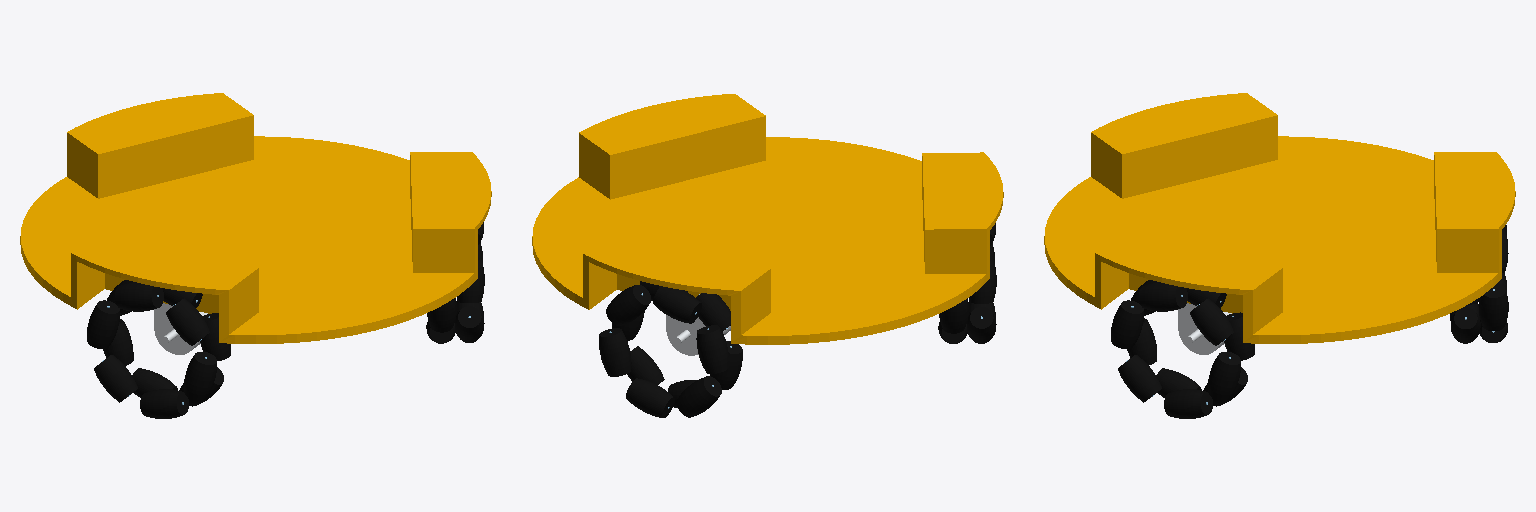
--- Render facts (derived) ---
Views: 3 orthographic renders of the robot side by side, from view 1: azimuth 30°, elevation 25°; view 2: azimuth 150°, elevation 25°; view 3: azimuth 270°, elevation 25°.
Robot: omnibot — 43 links, 42 joints (39 revolute, 3 fixed); root link body; default pose: every joint at zero.
Visible links, largest first — view 1: body, omni_roller001_(solid)001_33, omni_roller001_(solid)001_31, omni_roller001_(solid)001_34, omni_roller001_(solid)001_35, omni_roller001_(solid)001_29, omni_roller001_(solid)001_32, assembly_motor_3, omni_roller001_(solid)001_3, omni_roller001_(solid)001_28, omni_roller001_(solid)001_27, omni_roller001_(solid)001_26 (+2 smaller); view 2: body, omni_roller001_(solid)001_22, omni_roller001_(solid)001_19, omni_roller001_(solid)001_23, omni_roller001_(solid)001_17, omni_roller001_(solid)001_21, omni_roller001_(solid)001_24, assembly_motor_2, omni_roller001_(solid)001_18, omni_roller001_(solid)001_35, omni_roller001_(solid)001_13, omni_roller001_(solid)001_20 (+2 smaller); view 3: body, omni_roller001_(solid)001_11, omni_roller001_(solid)001_5, omni_roller001_(solid)001_12, omni_roller001_(solid)001_3, omni_roller001_(solid)001_8, omni_roller001_(solid)001_7, omni_roller001_(solid)001_23, assembly_motor, omni_roller001_(solid)001_13, omni_roller001_(solid)001_10, omni_roller001_(solid)001_4 (+1 smaller).
Link boxes in pixels (bbox=[...]): body: bbox=[20, 93, 491, 343]; omni_roller001_(solid)001_33: bbox=[184, 352, 216, 399]; omni_roller001_(solid)001_31: bbox=[87, 300, 119, 348]; omni_roller001_(solid)001_34: bbox=[140, 389, 188, 418]; omni_roller001_(solid)001_35: bbox=[94, 355, 137, 402]; omni_roller001_(solid)001_29: bbox=[166, 298, 209, 345]; omni_roller001_(solid)001_32: bbox=[115, 282, 163, 311]; assembly_motor_3: bbox=[154, 303, 207, 354]; omni_roller001_(solid)001_3: bbox=[455, 306, 484, 342]; omni_roller001_(solid)001_28: bbox=[200, 313, 230, 360]; omni_roller001_(solid)001_27: bbox=[103, 319, 133, 365]; omni_roller001_(solid)001_26: bbox=[132, 368, 177, 397]; body: bbox=[532, 94, 1003, 344]; omni_roller001_(solid)001_22: bbox=[626, 378, 674, 417]; omni_roller001_(solid)001_19: bbox=[696, 325, 728, 373]; omni_roller001_(solid)001_23: bbox=[599, 328, 631, 376]; omni_roller001_(solid)001_17: bbox=[653, 286, 701, 323]; omni_roller001_(solid)001_21: bbox=[677, 376, 721, 417]; omni_roller001_(solid)001_24: bbox=[606, 285, 650, 325]; assembly_motor_2: bbox=[666, 315, 730, 355]; omni_roller001_(solid)001_18: bbox=[696, 293, 730, 331]; omni_roller001_(solid)001_35: bbox=[967, 307, 996, 343]; omni_roller001_(solid)001_13: bbox=[627, 346, 664, 384]; omni_roller001_(solid)001_20: bbox=[710, 341, 742, 389]; body: bbox=[1044, 93, 1515, 343]; omni_roller001_(solid)001_11: bbox=[1208, 352, 1240, 399]; omni_roller001_(solid)001_5: bbox=[1111, 300, 1143, 348]; omni_roller001_(solid)001_12: bbox=[1164, 389, 1212, 418]; omni_roller001_(solid)001_3: bbox=[1118, 355, 1161, 402]; omni_roller001_(solid)001_8: bbox=[1190, 298, 1233, 345]; omni_roller001_(solid)001_7: bbox=[1139, 282, 1187, 311]; omni_roller001_(solid)001_23: bbox=[1479, 284, 1508, 330]; assembly_motor: bbox=[1178, 303, 1231, 354]; omni_roller001_(solid)001_13: bbox=[1451, 307, 1480, 343]; omni_roller001_(solid)001_10: bbox=[1224, 312, 1254, 360]; omni_roller001_(solid)001_4: bbox=[1127, 318, 1156, 364].
Size in the robot's own frame: 0.24 by 0.24 by 0.0824 metres.
Meshes: 7 distinct files referenced, 76 mesh visuals loaded (4 binary STL); not drawn: 12 (reference not matched to a file when rendering).

URDF robot description (omnibot):
<robot name="omnibot">
    <link name="body">
        <visual>
            <origin xyz="0 0 0" rpy="0 -0 0" />
            <geometry>
                <mesh filename="package://onshape_description/omnibot/body.stl"/>
            </geometry>
            <material name="body_material">
                <color rgba="0.98039215686274505668 0.71372549019607844922 0.0039215686274509803377 1.0"/>
            </material>
        </visual>
        <collision>
            <origin xyz="0 0 0" rpy="0 -0 0" />
            <geometry>
                <mesh filename="package://onshape_description/omnibot/body.stl"/>
            </geometry>
        </collision>
        <inertial>
            <origin xyz="5.3329092568826338066e-17 -6.3426476904634467603e-17 0.0080527486487109532082" rpy="0 0 0"/>
            <mass value="0.33121488483749472742" />
            <inertia ixx="0.0012461406422939475935" ixy="0"  ixz="0" iyy="0.0012461406422939460756" iyz="0" izz="0.002431657443177079065" />
        </inertial>
    </link>

    <link name="assembly_motor">
        <visual>
            <origin xyz="7.9043193428368358577e-18 0.015229328657860308205 -0.057370000000000025142" rpy="1.1520632371359762718e-32 2.2226360665914211532e-18 -4.9713570571472892865e-32" />
            <geometry>
                <mesh filename="package://onshape_description/omnibot/part_1.stl"/>
            </geometry>
            <material name="part_1_material">
                <color rgba="0.90196078431372550543 0.91764705882352937127 0.92941176470588238168 1.0"/>
            </material>
        </visual>
        <collision>
            <origin xyz="7.9043193428368358577e-18 0.015229328657860308205 -0.057370000000000025142" rpy="1.1520632371359762718e-32 2.2226360665914211532e-18 -4.9713570571472892865e-32" />
            <geometry>
                <mesh filename="package://onshape_description/omnibot/part_1.stl"/>
            </geometry>
        </collision>
        <inertial>
            <origin xyz="-2.0988305528124668016e-06 0.015050377580170262726 -0.021659280060218950859" rpy="0 0 0"/>
            <mass value="0.12860494827495116965" />
            <inertia ixx="4.6506247208995554765e-05" ixy="1.6921131916578571026e-09"  ixz="-3.4608427741391724399e-09" iyy="4.6246527094885944318e-05" iyz="1.0074294037198129599e-06" izz="1.066124497744399909e-05" />
        </inertial>
    </link>

    <link name="wheel_copy_1">
        <visual>
            <origin xyz="0.018849292529230034926 -0.025304642924402168114 -0.024199999508976458018" rpy="3.141592653589793116 -4.7644572900755180601e-17 1.8430678811938725481" />
            <geometry>
                <mesh filename="package://onshape_description/omnibot/axys_rod.stl"/>
            </geometry>
            <material name="axys_rod_material">
                <color rgba="0.61568627450980395466 0.81176470588235294379 0.92941176470588238168 1.0"/>
            </material>
        </visual>
        <collision>
            <origin xyz="0.018849292529230034926 -0.025304642924402168114 -0.024199999508976458018" rpy="3.141592653589793116 -4.7644572900755180601e-17 1.8430678811938725481" />
            <geometry>
                <mesh filename="package://onshape_description/omnibot/axys_rod.stl"/>
            </geometry>
        </collision>
        <visual>
            <origin xyz="-0.0029828434134273208028 0.031522754648300330138 -0.00999999706275848943" rpy="2.4614437732346262287e-17 2.1952416273112084314e-17 1.2985250346548160572" />
            <geometry>
                <mesh filename="package://onshape_description/omnibot/axys_rod.stl"/>
            </geometry>
            <material name="axys_rod_material">
                <color rgba="0.61568627450980395466 0.81176470588235294379 0.92941176470588238168 1.0"/>
            </material>
        </visual>
        <collision>
            <origin xyz="-0.0029828434134273208028 0.031522754648300330138 -0.00999999706275848943" rpy="2.4614437732346262287e-17 2.1952416273112084314e-17 1.2985250346548160572" />
            <geometry>
                <mesh filename="package://onshape_description/omnibot/axys_rod.stl"/>
            </geometry>
        </collision>
        <visual>
            <origin xyz="-0.019217739019543406132 -0.025322796751039058916 -0.010000003715208136135" rpy="2.4614437732346262287e-17 2.1952416273112084314e-17 1.2985250346548160572" />
            <geometry>
                <mesh filename="package://onshape_description/omnibot/axys_rod.stl"/>
            </geometry>
            <material name="axys_rod_material">
                <color rgba="0.61568627450980395466 0.81176470588235294379 0.92941176470588238168 1.0"/>
            </material>
        </visual>
        <collision>
            <origin xyz="-0.019217739019543406132 -0.025322796751039058916 -0.010000003715208136135" rpy="2.4614437732346262287e-17 2.1952416273112084314e-17 1.2985250346548160572" />
            <geometry>
                <mesh filename="package://onshape_description/omnibot/axys_rod.stl"/>
            </geometry>
        </collision>
        <visual>
            <origin xyz="-0.025693795923572966544 -0.018315214244011321365 -0.010000001453652943018" rpy="-3.141592653589793116 -1.3043559180657304432e-17 0.25132812119095515602" />
            <geometry>
                <mesh filename="package://onshape_description/omnibot/axys_rod.stl"/>
            </geometry>
            <material name="axys_rod_material">
                <color rgba="0.61568627450980395466 0.81176470588235294379 0.92941176470588238168 1.0"/>
            </material>
        </visual>
        <collision>
            <origin xyz="-0.025693795923572966544 -0.018315214244011321365 -0.010000001453652943018" rpy="-3.141592653589793116 -1.3043559180657304432e-17 0.25132812119095515602" />
            <geometry>
                <mesh filename="package://onshape_description/omnibot/axys_rod.stl"/>
            </geometry>
        </collision>
        <visual>
            <origin xyz="0.028708342606700746474 0.01309387383940342417 -0.024199995144404365388" rpy="3.141592653589793116 -1.3122498566019725294e-16 0.79586976703605860628" />
            <geometry>
                <mesh filename="package://onshape_description/omnibot/axys_rod.stl"/>
            </geometry>
            <material name="axys_rod_material">
                <color rgba="0.61568627450980395466 0.81176470588235294379 0.92941176470588238168 1.0"/>
            </material>
        </visual>
        <collision>
            <origin xyz="0.028708342606700746474 0.01309387383940342417 -0.024199995144404365388" rpy="3.141592653589793116 -1.3122498566019725294e-16 0.79586976703605860628" />
            <geometry>
                <mesh filename="package://onshape_description/omnibot/axys_rod.stl"/>
            </geometry>
        </collision>
        <visual>
            <origin xyz="0.025693839153634077249 -0.01831520409297256527 -0.024199999328582064151" rpy="3.141592653589793116 2.1897413049154641094e-17 -0.25132764401668117316" />
            <geometry>
                <mesh filename="package://onshape_description/omnibot/axys_rod.stl"/>
            </geometry>
            <material name="axys_rod_material">
                <color rgba="0.61568627450980395466 0.81176470588235294379 0.92941176470588238168 1.0"/>
            </material>
        </visual>
        <collision>
            <origin xyz="0.025693839153634077249 -0.01831520409297256527 -0.024199999328582064151" rpy="3.141592653589793116 2.1897413049154641094e-17 -0.25132764401668117316" />
            <geometry>
                <mesh filename="package://onshape_description/omnibot/axys_rod.stl"/>
            </geometry>
        </collision>
        <visual>
            <origin xyz="-1.9642151932730556041e-09 -1.7891382439102956554e-10 -0.022199999809268053386" rpy="-3.141592653589793116 -7.2197123923000667429e-17 1.0471975511965978534" />
            <geometry>
                <mesh filename="package://onshape_description/omnibot/omni_003_(solid)001.stl"/>
            </geometry>
            <material name="omni_003_(solid)001_material">
                <color rgba="0.98039215686274505668 0.79607843137254896693 0.26274509803921569651 1.0"/>
            </material>
        </visual>
        <collision>
            <origin xyz="-1.9642151932730556041e-09 -1.7891382439102956554e-10 -0.022199999809268053386" rpy="-3.141592653589793116 -7.2197123923000667429e-17 1.0471975511965978534" />
            <geometry>
                <mesh filename="package://onshape_description/omnibot/omni_003_(solid)001.stl"/>
            </geometry>
        </collision>
        <visual>
            <origin xyz="0.015937773618267953024 0.0042705139175610584701 -0.012000000000003036016" rpy="-3.141592653589793116 1.6962974652580569478e-28 -2.3422611302673121514e-32" />
            <geometry>
                <mesh filename="package://onshape_description/omnibot/omni_spacer001_(solid)001.stl"/>
            </geometry>
            <material name="omni_spacer001_(solid)001_material">
                <color rgba="1 0.7568627450980391913 0.054901960784313724728 1.0"/>
            </material>
        </visual>
        <collision>
            <origin xyz="0.015937773618267953024 0.0042705139175610584701 -0.012000000000003036016" rpy="-3.141592653589793116 1.6962974652580569478e-28 -2.3422611302673121514e-32" />
            <geometry>
                <mesh filename="package://onshape_description/omnibot/omni_spacer001_(solid)001.stl"/>
            </geometry>
        </collision>
        <visual>
            <origin xyz="2.001760042447120469e-11 -1.9338654079413060799e-11 -0.012000000000003147038" rpy="1.9022338643349641804e-17 1.6962974652580569478e-28 -2.3422611302673121514e-32" />
            <geometry>
                <mesh filename="package://onshape_description/omnibot/omni_1_4mm_hole001_(solid).stl"/>
            </geometry>
            <material name="omni_1_4mm_hole001_(solid)_material">
                <color rgba="1 0.7568627450980391913 0.054901960784313724728 1.0"/>
            </material>
        </visual>
        <collision>
            <origin xyz="2.001760042447120469e-11 -1.9338654079413060799e-11 -0.012000000000003147038" rpy="1.9022338643349641804e-17 1.6962974652580569478e-28 -2.3422611302673121514e-32" />
            <geometry>
                <mesh filename="package://onshape_description/omnibot/omni_1_4mm_hole001_(solid).stl"/>
            </geometry>
        </collision>
        <visual>
            <origin xyz="-0.028790909644556491459 0.013178153068647131124 -0.01000000062226605313" rpy="-3.141592653589793116 7.5788537773920091237e-17 -0.79586931499755342312" />
            <geometry>
                <mesh filename="package://onshape_description/omnibot/axys_rod.stl"/>
            </geometry>
            <material name="axys_rod_material">
                <color rgba="0.61568627450980395466 0.81176470588235294379 0.92941176470588238168 1.0"/>
            </material>
        </visual>
        <collision>
            <origin xyz="-0.028790909644556491459 0.013178153068647131124 -0.01000000062226605313" rpy="-3.141592653589793116 7.5788537773920091237e-17 -0.79586931499755342312" />
            <geometry>
                <mesh filename="package://onshape_description/omnibot/axys_rod.stl"/>
            </geometry>
        </collision>
        <visual>
            <origin xyz="0.02580811602108519856 0.018344566682607629793 -0.010000000481623277926" rpy="3.5691146390301812134e-17 -1.2715429987453172065e-17 0.25132812119095515602" />
            <geometry>
                <mesh filename="package://onshape_description/omnibot/axys_rod.stl"/>
            </geometry>
            <material name="axys_rod_material">
                <color rgba="0.61568627450980395466 0.81176470588235294379 0.92941176470588238168 1.0"/>
            </material>
        </visual>
        <collision>
            <origin xyz="0.02580811602108519856 0.018344566682607629793 -0.010000000481623277926" rpy="3.5691146390301812134e-17 -1.2715429987453172065e-17 0.25132812119095515602" />
            <geometry>
                <mesh filename="package://onshape_description/omnibot/axys_rod.stl"/>
            </geometry>
        </collision>
        <visual>
            <origin xyz="-0.025693825391882991332 0.018315274927571172092 -0.024199999573447886214" rpy="-2.849706463173791796e-17 2.2225542242358670231e-17 -0.25132764401668117316" />
            <geometry>
                <mesh filename="package://onshape_description/omnibot/axys_rod.stl"/>
            </geometry>
            <material name="axys_rod_material">
                <color rgba="0.61568627450980395466 0.81176470588235294379 0.92941176470588238168 1.0"/>
            </material>
        </visual>
        <collision>
            <origin xyz="-0.025693825391882991332 0.018315274927571172092 -0.024199999573447886214" rpy="-2.849706463173791796e-17 2.2225542242358670231e-17 -0.25132764401668117316" />
            <geometry>
                <mesh filename="package://onshape_description/omnibot/axys_rod.stl"/>
            </geometry>
        </collision>
        <visual>
            <origin xyz="-0.015937773364185364722 -0.0042705132347586136771 -0.012000000000003202549" rpy="-3.141592653589793116 1.6962974652580569478e-28 -2.3422611302673121514e-32" />
            <geometry>
                <mesh filename="package://onshape_description/omnibot/omni_spacer001_(solid)001.stl"/>
            </geometry>
            <material name="omni_spacer001_(solid)001_material">
                <color rgba="1 0.7568627450980391913 0.054901960784313724728 1.0"/>
            </material>
        </visual>
        <collision>
            <origin xyz="-0.015937773364185364722 -0.0042705132347586136771 -0.012000000000003202549" rpy="-3.141592653589793116 1.6962974652580569478e-28 -2.3422611302673121514e-32" />
            <geometry>
                <mesh filename="package://onshape_description/omnibot/omni_spacer001_(solid)001.stl"/>
            </geometry>
        </collision>
        <visual>
            <origin xyz="0.028790823204502383886 -0.013178235601432183519 -0.010000000285351320906" rpy="5.4374863009449955638e-17 7.5788537773920091237e-17 -0.79586931499755342312" />
            <geometry>
                <mesh filename="package://onshape_description/omnibot/axys_rod.stl"/>
            </geometry>
            <material name="axys_rod_material">
                <color rgba="0.61568627450980395466 0.81176470588235294379 0.92941176470588238168 1.0"/>
            </material>
        </visual>
        <collision>
            <origin xyz="0.028790823204502383886 -0.013178235601432183519 -0.010000000285351320906" rpy="5.4374863009449955638e-17 7.5788537773920091237e-17 -0.79586931499755342312" />
            <geometry>
                <mesh filename="package://onshape_description/omnibot/axys_rod.stl"/>
            </geometry>
        </collision>
        <visual>
            <origin xyz="0.0030145071180058581606 0.031409130275868703264 -0.024199999101464725326" rpy="3.141592653589793116 -4.8957089673571784025e-17 1.843067881193871882" />
            <geometry>
                <mesh filename="package://onshape_description/omnibot/axys_rod.stl"/>
            </geometry>
            <material name="axys_rod_material">
                <color rgba="0.61568627450980395466 0.81176470588235294379 0.92941176470588238168 1.0"/>
            </material>
        </visual>
        <collision>
            <origin xyz="0.0030145071180058581606 0.031409130275868703264 -0.024199999101464725326" rpy="3.141592653589793116 -4.8957089673571784025e-17 1.843067881193871882" />
            <geometry>
                <mesh filename="package://onshape_description/omnibot/axys_rod.stl"/>
            </geometry>
        </collision>
        <visual>
            <origin xyz="-0.028708344080531279785 -0.013093882512642342902 -0.02419999841828643361" rpy="-9.6174079307260302496e-17 -1.3122498566019725294e-16 0.79586976703605860628" />
            <geometry>
                <mesh filename="package://onshape_description/omnibot/axys_rod.stl"/>
            </geometry>
            <material name="axys_rod_material">
                <color rgba="0.61568627450980395466 0.81176470588235294379 0.92941176470588238168 1.0"/>
            </material>
        </visual>
        <collision>
            <origin xyz="-0.028708344080531279785 -0.013093882512642342902 -0.02419999841828643361" rpy="-9.6174079307260302496e-17 -1.3122498566019725294e-16 0.79586976703605860628" />
            <geometry>
                <mesh filename="package://onshape_description/omnibot/axys_rod.stl"/>
            </geometry>
        </collision>
        <inertial>
            <origin xyz="-9.4588917160587250018e-06 -8.8415141495196449131e-06 -0.01513112534270852523" rpy="0 0 0"/>
            <mass value="0.019223052335254627032" />
            <inertia ixx="5.399262953463331145e-06" ixy="-7.3246329002135497658e-08"  ixz="-1.2642889979755847175e-09" iyy="5.6557979176500385832e-06" iyz="1.9098649289525193728e-09" izz="8.6846392930505483386e-06" />
        </inertial>
    </link>

    <link name="omni_roller001_(solid)001">
        <visual>
            <origin xyz="-1.3877787807814456755e-17 0 -3.4694469519536141888e-18" rpy="9.2484567626625085006e-17 -4.7833364195302592089e-17 4.7870296461651692964e-17" />
            <geometry>
                <mesh filename="package://onshape_description/omnibot/omni_roller001_(solid)001.stl"/>
            </geometry>
            <material name="omni_roller001_(solid)001_material">
                <color rgba="0.098039215686274508443 0.098039215686274508443 0.098039215686274508443 1.0"/>
            </material>
        </visual>
        <collision>
            <origin xyz="-1.3877787807814456755e-17 0 -3.4694469519536141888e-18" rpy="9.2484567626625085006e-17 -4.7833364195302592089e-17 4.7870296461651692964e-17" />
            <geometry>
                <mesh filename="package://onshape_description/omnibot/omni_roller001_(solid)001.stl"/>
            </geometry>
        </collision>
        <inertial>
            <origin xyz="4.0756108053425223029e-11 8.4957103231394507408e-11 2.4283845766470753451e-11" rpy="0 0 0"/>
            <mass value="0.0037899803393768713086" />
            <inertia ixx="1.8303635244743846252e-07" ixy="4.2716084390867140263e-16"  ixz="-1.7514569702785211666e-15" iyy="1.8303636075213792142e-07" iyz="-3.3429142950867278974e-15" izz="9.8097062080638921065e-08" />
        </inertial>
    </link>

    <joint name="roller2_1" type="revolute">
        <origin xyz="0.020681564833504317152 -0.021119421197575757171 -0.010000000285351320906" rpy="-0.77492701179734368999 1.570796326794896336 0" />
        <parent link="wheel_copy_1" />
        <child link="omni_roller001_(solid)001" />
        <axis xyz="0 0 1"/>
        <limit effort="1" velocity="20" lower="-6.283185307179586232" upper="6.283185307179586232"/>
        <joint_properties friction="0.0"/>
    </joint>

    <link name="omni_roller001_(solid)001_2">
        <visual>
            <origin xyz="6.9388939039072283776e-18 -1.3877787807814456755e-17 -8.6736173798840354721e-18" rpy="2.5041844416499300575e-17 -4.8798737124391119925e-18 1.5009555487196041793e-17" />
            <geometry>
                <mesh filename="package://onshape_description/omnibot/omni_roller001_(solid)001.stl"/>
            </geometry>
            <material name="omni_roller001_(solid)001_material">
                <color rgba="0.098039215686274508443 0.098039215686274508443 0.098039215686274508443 1.0"/>
            </material>
        </visual>
        <collision>
            <origin xyz="6.9388939039072283776e-18 -1.3877787807814456755e-17 -8.6736173798840354721e-18" rpy="2.5041844416499300575e-17 -4.8798737124391119925e-18 1.5009555487196041793e-17" />
            <geometry>
                <mesh filename="package://onshape_description/omnibot/omni_roller001_(solid)001.stl"/>
            </geometry>
        </collision>
        <inertial>
            <origin xyz="4.0756128870106928288e-11 8.4957089353606686669e-11 2.4283840562300319058e-11" rpy="0 0 0"/>
            <mass value="0.0037899803393768713086" />
            <inertia ixx="1.8303635244743851546e-07" ixy="4.2716080984755788111e-16"  ixz="-1.751456978037600047e-15" iyy="1.8303636075213781554e-07" iyz="-3.3429143066134888971e-15" izz="9.8097062080638921065e-08" />
        </inertial>
    </link>

    <joint name="roller2_2" type="revolute">
        <origin xyz="0.028630754033681701104 0.007351149804773652631 -0.010000000481623277926" rpy="1.57079632679489678 8.4100955474043997626e-17 0.25132812119095515602" />
        <parent link="wheel_copy_1" />
        <child link="omni_roller001_(solid)001_2" />
        <axis xyz="0 0 1"/>
        <limit effort="1" velocity="20" lower="-6.283185307179586232" upper="6.283185307179586232"/>
        <joint_properties friction="0.0"/>
    </joint>

    <link name="omni_roller001_(solid)001_3">
        <visual>
            <origin xyz="0 0 0" rpy="-3.3277821044198022217e-17 -5.1846876134235366978e-17 -4.1694802140465577334e-17" />
            <geometry>
                <mesh filename="package://onshape_description/omnibot/omni_roller001_(solid)001.stl"/>
            </geometry>
            <material name="omni_roller001_(solid)001_material">
                <color rgba="0.098039215686274508443 0.098039215686274508443 0.098039215686274508443 1.0"/>
            </material>
        </visual>
        <collision>
            <origin xyz="0 0 0" rpy="-3.3277821044198022217e-17 -5.1846876134235366978e-17 -4.1694802140465577334e-17" />
            <geometry>
                <mesh filename="package://onshape_description/omnibot/omni_roller001_(solid)001.stl"/>
            </geometry>
        </collision>
        <inertial>
            <origin xyz="4.0756121931213024381e-11 8.4957103231394494483e-11 2.428384923591769248e-11" rpy="0 0 0"/>
            <mass value="0.0037899803393768713086" />
            <inertia ixx="1.8303635244743851546e-07" ixy="4.2716080314319811039e-16"  ixz="-1.7514569664669691118e-15" iyy="1.8303636075213781554e-07" iyz="-3.3429143181208403687e-15" izz="9.8097062080638894596e-08" />
        </inertial>
    </link>

    <joint name="roller2_3" type="revolute">
        <origin xyz="0.020599080645981839716 0.021035055769849174412 -0.024199995144404365388" rpy="0.77492655975883795172 1.570796326794896558 0" />
        <parent link="wheel_copy_1" />
        <child link="omni_roller001_(solid)001_3" />
        <axis xyz="0 0 1"/>
        <limit effort="1" velocity="20" lower="-6.283185307179586232" upper="6.283185307179586232"/>
        <joint_properties friction="0.0"/>
    </joint>

    <link name="omni_roller001_(solid)001_4">
        <visual>
            <origin xyz="0 0 1.7347234759768070944e-18" rpy="-2.0454157376342495616e-17 1.4120709220917386649e-17 4.4234811975843419778e-17" />
            <geometry>
                <mesh filename="package://onshape_description/omnibot/omni_roller001_(solid)001.stl"/>
            </geometry>
            <material name="omni_roller001_(solid)001_material">
                <color rgba="0.098039215686274508443 0.098039215686274508443 0.098039215686274508443 1.0"/>
            </material>
        </visual>
        <collision>
            <origin xyz="0 0 1.7347234759768070944e-18" rpy="-2.0454157376342495616e-17 1.4120709220917386649e-17 4.4234811975843419778e-17" />
            <geometry>
                <mesh filename="package://onshape_description/omnibot/omni_roller001_(solid)001.stl"/>
            </geometry>
        </collision>
        <inertial>
            <origin xyz="4.0756121931213024381e-11 8.4957103231394494483e-11 2.4283850970641174919e-11" rpy="0 0 0"/>
            <mass value="0.0037899803393768713086" />
            <inertia ixx="1.8303635244743851546e-07" ixy="4.2716082195654176416e-16"  ixz="-1.7514569825182619494e-15" iyy="1.8303636075213781554e-07" iyz="-3.3429143189191857486e-15" izz="9.8097062080638974005e-08" />
        </inertial>
    </link>

    <joint name="roller2_4" type="revolute">
        <origin xyz="0.0079490519369571528696 0.028470515462351353442 -0.00999999706275848943" rpy="-0.27227129214008055635 -1.570796326794896336 0" />
        <parent link="wheel_copy_1" />
        <child link="omni_roller001_(solid)001_4" />
        <axis xyz="0 0 1"/>
        <limit effort="1" velocity="20" lower="-6.283185307179586232" upper="6.283185307179586232"/>
        <joint_properties friction="0.0"/>
    </joint>

    <link name="omni_roller001_(solid)001_5">
        <visual>
            <origin xyz="1.3877787807814456755e-17 1.0408340855860842566e-17 -1.7347234759768070944e-18" rpy="1.3766263195552324505e-17 1.668982126486925268e-17 4.6755392684989939034e-17" />
            <geometry>
                <mesh filename="package://onshape_description/omnibot/omni_roller001_(solid)001.stl"/>
            </geometry>
            <material name="omni_roller001_(solid)001_material">
                <color rgba="0.098039215686274508443 0.098039215686274508443 0.098039215686274508443 1.0"/>
            </material>
        </visual>
        <collision>
            <origin xyz="1.3877787807814456755e-17 1.0408340855860842566e-17 -1.7347234759768070944e-18" rpy="1.3766263195552324505e-17 1.668982126486925268e-17 4.6755392684989939034e-17" />
            <geometry>
                <mesh filename="package://onshape_description/omnibot/omni_roller001_(solid)001.stl"/>
            </geometry>
        </collision>
        <inertial>
            <origin xyz="4.075613580900084512e-11 8.4957113639735363269e-11 2.4283847501194219734e-11" rpy="0 0 0"/>
            <mass value="0.0037899803393768713086" />
            <inertia ixx="1.8303635244743851546e-07" ixy="4.2716084290104319675e-16"  ixz="-1.7514569867270952029e-15" iyy="1.8303636075213792142e-07" iyz="-3.3429143018036998284e-15" izz="9.8097062080638921065e-08" />
        </inertial>
    </link>

    <joint name="roller2_5" type="revolute">
        <origin xyz="-0.0079173874319013702594 0.028356888222933022969 -0.024199999101464739204" rpy="-0.27227155439897504641 1.570796326794896558 0" />
        <parent link="wheel_copy_1" />
        <child link="omni_roller001_(solid)001_5" />
        <axis xyz="0 0 1"/>
        <limit effort="1" velocity="20" lower="-6.283185307179586232" upper="6.283185307179586232"/>
        <joint_properties friction="0.0"/>
    </joint>

    <link name="omni_roller001_(solid)001_6">
        <visual>
            <origin xyz="-1.3877787807814456755e-17 3.4694469519536141888e-18 -3.4694469519536141888e-18" rpy="-9.2484567626625085006e-17 -4.7833364195302592089e-17 -4.7870296461651692964e-17" />
            <geometry>
                <mesh filename="package://onshape_description/omnibot/omni_roller001_(solid)001.stl"/>
            </geometry>
            <material name="omni_roller001_(solid)001_material">
                <color rgba="0.098039215686274508443 0.098039215686274508443 0.098039215686274508443 1.0"/>
            </material>
        </visual>
        <collision>
            <origin xyz="-1.3877787807814456755e-17 3.4694469519536141888e-18 -3.4694469519536141888e-18" rpy="-9.2484567626625085006e-17 -4.7833364195302592089e-17 -4.7870296461651692964e-17" />
            <geometry>
                <mesh filename="package://onshape_description/omnibot/omni_roller001_(solid)001.stl"/>
            </geometry>
        </collision>
        <inertial>
            <origin xyz="4.0756108053425197179e-11 8.4957106700841459362e-11 2.4283845766470740526e-11" rpy="0 0 0"/>
            <mass value="0.0037899803393768713086" />
            <inertia ixx="1.8303635244743846252e-07" ixy="4.2716077302328854649e-16"  ixz="-1.7514569702785203777e-15" iyy="1.8303636075213792142e-07" iyz="-3.3429143153363968483e-15" izz="9.8097062080638921065e-08" />
        </inertial>
    </link>

    <joint name="roller2_6" type="revolute">
        <origin xyz="-0.020681651273558431664 0.021119338664790703042 -0.010000000622266039252" rpy="0.77492701179734368999 -1.570796326794896336 0" />
        <parent link="wheel_copy_1" />
        <child link="omni_roller001_(solid)001_6" />
        <axis xyz="0 0 1"/>
        <limit effort="1" velocity="20" lower="-6.283185307179586232" upper="6.283185307179586232"/>
        <joint_properties friction="0.0"/>
    </joint>

    <link name="omni_roller001_(solid)001_7">
        <visual>
            <origin xyz="0 -1.3877787807814456755e-17 6.0715321659188248304e-18" rpy="2.3780364457452414034e-17 -2.6797250657194921497e-17 1.651354415723320809e-17" />
            <geometry>
                <mesh filename="package://onshape_description/omnibot/omni_roller001_(solid)001.stl"/>
            </geometry>
            <material name="omni_roller001_(solid)001_material">
                <color rgba="0.098039215686274508443 0.098039215686274508443 0.098039215686274508443 1.0"/>
            </material>
        </visual>
        <collision>
            <origin xyz="0 -1.3877787807814456755e-17 6.0715321659188248304e-18" rpy="2.3780364457452414034e-17 -2.6797250657194921497e-17 1.651354415723320809e-17" />
            <geometry>
                <mesh filename="package://onshape_description/omnibot/omni_roller001_(solid)001.stl"/>
            </geometry>
        </collision>
        <inertial>
            <origin xyz="4.0756121931213017919e-11 8.4957089353606686669e-11 2.4283855307449864861e-11" rpy="0 0 0"/>
            <mass value="0.0037899803393768713086" />
            <inertia ixx="1.8303635244743846252e-07" ixy="4.2716081270953173601e-16"  ixz="-1.7514569749693154982e-15" iyy="1.8303636075213781554e-07" iyz="-3.3429143104806455877e-15" izz="9.8097062080638921065e-08" />
        </inertial>
    </link>

    <joint name="roller2_7" type="revolute">
        <origin xyz="-0.028516458158703454628 0.007321856702848187487 -0.024199999573447900092" rpy="-1.570796326794896558 -2.5565834310713456797e-16 -0.25132764401668100662" />
        <parent link="wheel_copy_1" />
        <child link="omni_roller001_(solid)001_7" />
        <axis xyz="0 0 1"/>
        <limit effort="1" velocity="20" lower="-6.283185307179586232" upper="6.283185307179586232"/>
        <joint_properties friction="0.0"/>
    </joint>

    <link name="omni_roller001_(solid)001_8">
        <visual>
            <origin xyz="1.3877787807814456755e-17 0 5.2041704279304212832e-18" rpy="-3.3277821044198022217e-17 -5.1846876134235366978e-17 -4.1694802140465577334e-17" />
            <geometry>
                <mesh filename="package://onshape_description/omnibot/omni_roller001_(solid)001.stl"/>
            </geometry>
            <material name="omni_roller001_(solid)001_material">
                <color rgba="0.098039215686274508443 0.098039215686274508443 0.098039215686274508443 1.0"/>
            </material>
        </visual>
        <collision>
            <origin xyz="1.3877787807814456755e-17 0 5.2041704279304212832e-18" rpy="-3.3277821044198022217e-17 -5.1846876134235366978e-17 -4.1694802140465577334e-17" />
            <geometry>
                <mesh filename="package://onshape_description/omnibot/omni_roller001_(solid)001.stl"/>
            </geometry>
        </collision>
        <inertial>
            <origin xyz="4.0756135809000832195e-11 8.4957103231394494483e-11 2.428385444008812041e-11" rpy="0 0 0"/>
            <mass value="0.0037899803393768713086" />
            <inertia ixx="1.8303635244743851546e-07" ixy="4.2716080314319811039e-16"  ixz="-1.7514569664669691118e-15" iyy="1.8303636075213781554e-07" iyz="-3.3429143181208403687e-15" izz="9.8097062080638894596e-08" />
        </inertial>
    </link>

    <joint name="roller2_8" type="revolute">
        <origin xyz="-0.020599082119812359148 -0.021035064443088020286 -0.024199998418286447488" rpy="0.77492655975883795172 1.570796326794896558 0" />
        <parent link="wheel_copy_1" />
        <child link="omni_roller001_(solid)001_8" />
        <axis xyz="0 0 1"/>
        <limit effort="1" velocity="20" lower="-6.283185307179586232" upper="6.283185307179586232"/>
        <joint_properties friction="0.0"/>
    </joint>

    <link name="omni_roller001_(solid)001_9">
        <visual>
            <origin xyz="0 0 -3.0357660829594124152e-18" rpy="4.9315931312129044184e-17 -3.2635193596464348534e-17 2.0213614592838326588e-17" />
            <geometry>
                <mesh filename="package://onshape_description/omnibot/omni_roller001_(solid)001.stl"/>
            </geometry>
            <material name="omni_roller001_(solid)001_material">
                <color rgba="0.098039215686274508443 0.098039215686274508443 0.098039215686274508443 1.0"/>
            </material>
        </visual>
        <collision>
            <origin xyz="0 0 -3.0357660829594124152e-18" rpy="4.9315931312129044184e-17 -3.2635193596464348534e-17 2.0213614592838326588e-17" />
            <geometry>
                <mesh filename="package://onshape_description/omnibot/omni_roller001_(solid)001.stl"/>
            </geometry>
        </collision>
        <inertial>
            <origin xyz="4.0756121931213024381e-11 8.4957103231394481559e-11 2.4283846200151615983e-11" rpy="0 0 0"/>
            <mass value="0.0037899803393768713086" />
            <inertia ixx="1.8303635244743851546e-07" ixy="4.2716081285648104126e-16"  ixz="-1.751456976022244436e-15" iyy="1.830363607521377626e-07" iyz="-3.3429142922600960957e-15" izz="9.8097062080638921065e-08" />
        </inertial>
    </link>

    <joint name="roller2_9" type="revolute">
        <origin xyz="-0.028516433936169462149 -0.0073217973661773537442 -0.01000000145365292914" rpy="1.570796326794896558 8.1804051121615047946e-17 0.25132812119095521153" />
        <parent link="wheel_copy_1" />
        <child link="omni_roller001_(solid)001_9" />
        <axis xyz="0 0 1"/>
        <limit effort="1" velocity="20" lower="-6.283185307179586232" upper="6.283185307179586232"/>
        <joint_properties friction="0.0"/>
    </joint>

    <link name="omni_roller001_(solid)001_10">
        <visual>
            <origin xyz="-1.3877787807814456755e-17 -6.9388939039072283776e-18 -1.7347234759768070944e-18" rpy="-2.0454157376342495616e-17 1.4120709220917386649e-17 4.4234811975843419778e-17" />
            <geometry>
                <mesh filename="package://onshape_description/omnibot/omni_roller001_(solid)001.stl"/>
            </geometry>
            <material name="omni_roller001_(solid)001_material">
                <color rgba="0.098039215686274508443 0.098039215686274508443 0.098039215686274508443 1.0"/>
            </material>
        </visual>
        <collision>
            <origin xyz="-1.3877787807814456755e-17 -6.9388939039072283776e-18 -1.7347234759768070944e-18" rpy="-2.0454157376342495616e-17 1.4120709220917386649e-17 4.4234811975843419778e-17" />
            <geometry>
                <mesh filename="package://onshape_description/omnibot/omni_roller001_(solid)001.stl"/>
            </geometry>
        </collision>
        <inertial>
            <origin xyz="4.0756108053425216566e-11 8.4957096292500590576e-11 2.4283847501194222966e-11" rpy="0 0 0"/>
            <mass value="0.0037899803393768713086" />
            <inertia ixx="1.8303635244743851546e-07" ixy="4.2716082195654176416e-16"  ixz="-1.7514569825182619494e-15" iyy="1.8303636075213781554e-07" iyz="-3.3429143189191857486e-15" izz="9.8097062080638974005e-08" />
        </inertial>
    </link>

    <joint name="roller2_10" type="revolute">
        <origin xyz="-0.0082858436691589341938 -0.028375035936988032143 -0.010000003715208150012" rpy="-0.27227129214008055635 -1.570796326794896336 0" />
        <parent link="wheel_copy_1" />
        <child link="omni_roller001_(solid)001_10" />
        <axis xyz="0 0 1"/>
        <limit effort="1" velocity="20" lower="-6.283185307179586232" upper="6.283185307179586232"/>
        <joint_properties friction="0.0"/>
    </joint>

    <link name="omni_roller001_(solid)001_11">
        <visual>
            <origin xyz="0 0 -1.7347234759768070944e-18" rpy="-7.2178846807666873682e-18 -2.553016255816596912e-18 -6.3272681231550578256e-17" />
            <geometry>
                <mesh filename="package://onshape_description/omnibot/omni_roller001_(solid)001.stl"/>
            </geometry>
            <material name="omni_roller001_(solid)001_material">
                <color rgba="0.098039215686274508443 0.098039215686274508443 0.098039215686274508443 1.0"/>
            </material>
        </visual>
        <collision>
            <origin xyz="0 0 -1.7347234759768070944e-18" rpy="-7.2178846807666873682e-18 -2.553016255816596912e-18 -6.3272681231550578256e-17" />
            <geometry>
                <mesh filename="package://onshape_description/omnibot/omni_roller001_(solid)001.stl"/>
            </geometry>
        </collision>
        <inertial>
            <origin xyz="4.0756121931213024381e-11 8.4957103231394494483e-11 2.4283847501194216503e-11" rpy="0 0 0"/>
            <mass value="0.0037899803393768713086" />
            <inertia ixx="1.8303635244743851546e-07" ixy="4.2716079099161125181e-16"  ixz="-1.7514569808392107585e-15" iyy="1.8303636075213781554e-07" iyz="-3.3429143088580975452e-15" izz="9.8097062080638894596e-08" />
        </inertial>
    </link>

    <joint name="roller2_11" type="revolute">
        <origin xyz="0.0079173979793228169144 -0.028356884977337838 -0.024199999508976471896" rpy="0.27227155439897621214 -1.570796326794896558 0" />
        <parent link="wheel_copy_1" />
        <child link="omni_roller001_(solid)001_11" />
        <axis xyz="0 0 1"/>
        <limit effort="1" velocity="20" lower="-6.283185307179586232" upper="6.283185307179586232"/>
        <joint_properties friction="0.0"/>
    </joint>

    <link name="omni_roller001_(solid)001_12">
        <visual>
            <origin xyz="-6.9388939039072283776e-18 -2.7755575615628913511e-17 -8.6736173798840354721e-19" rpy="-4.5328166304523081702e-17 2.7841906527643923698e-17 -3.1937388644539271481e-17" />
            <geometry>
                <mesh filename="package://onshape_description/omnibot/omni_roller001_(solid)001.stl"/>
            </geometry>
            <material name="omni_roller001_(solid)001_material">
                <color rgba="0.098039215686274508443 0.098039215686274508443 0.098039215686274508443 1.0"/>
            </material>
        </visual>
        <collision>
            <origin xyz="-6.9388939039072283776e-18 -2.7755575615628913511e-17 -8.6736173798840354721e-19" rpy="-4.5328166304523081702e-17 2.7841906527643923698e-17 -3.1937388644539271481e-17" />
            <geometry>
                <mesh filename="package://onshape_description/omnibot/omni_roller001_(solid)001.stl"/>
            </geometry>
        </collision>
        <inertial>
            <origin xyz="4.0756114992319114011e-11 8.495707547581886593e-11 2.4283848368555954492e-11" rpy="0 0 0"/>
            <mass value="0.0037899803393768713086" />
            <inertia ixx="1.8303635244743846252e-07" ixy="4.2716080427780797429e-16"  ixz="-1.7514569875219277851e-15" iyy="1.830363607521377626e-07" iyz="-3.3429143059291599505e-15" izz="9.8097062080638921065e-08" />
        </inertial>
    </link>

    <joint name="roller2_12" type="revolute">
        <origin xyz="0.028516471920454530137 -0.0073217858682495771949 -0.024199999328582064151" rpy="-1.57079632679489678 2.8327847704520065326e-16 -0.25132764401668111764" />
        <parent link="wheel_copy_1" />
        <child link="omni_roller001_(solid)001_12" />
        <axis xyz="0 0 1"/>
        <limit effort="1" velocity="20" lower="-6.283185307179586232" upper="6.283185307179586232"/>
        <joint_properties friction="0.0"/>
    </joint>

    <joint name="wheel2_speed" type="revolute">
        <origin xyz="1.6916223843148240913e-18 0.015229328657860304735 2.999999999994673594e-05" rpy="3.141592653589793116 -3.460379863012290867e-16 1.570796326794896558" />
        <parent link="assembly_motor" />
        <child link="wheel_copy_1" />
        <axis xyz="0 0 1"/>
        <limit effort="1" velocity="20" lower="-6.283185307179586232" upper="6.283185307179586232"/>
        <joint_properties friction="0.0"/>
    </joint>

    <joint name="motor1" type="fixed">
        <origin xyz="0.073581777378123131017 -0.041158680771919600727 2.6020852139652106416e-17" rpy="-1.570796326794896336 -1.660721004497953203e-16 -2.0807970750313837804" />
        <parent link="body" />
        <child link="assembly_motor" />
        <axis xyz="0 0 1"/>
        <limit effort="1" velocity="20" />
        <joint_properties friction="0.0"/>
    </joint>

    <link name="assembly_motor_2">
        <visual>
            <origin xyz="-4.0834403682039520383e-19 0.015229328657860308205 -0.057370000000000032081" rpy="0 -1.9568663227028638094e-18 0" />
            <geometry>
                <mesh filename="package://onshape_description/omnibot/part_1.stl"/>
            </geometry>
            <material name="part_1_material">
                <color rgba="0.90196078431372550543 0.91764705882352937127 0.92941176470588238168 1.0"/>
            </material>
        </visual>
        <collision>
            <origin xyz="-4.0834403682039520383e-19 0.015229328657860308205 -0.057370000000000032081" rpy="0 -1.9568663227028638094e-18 0" />
            <geometry>
                <mesh filename="package://onshape_description/omnibot/part_1.stl"/>
            </geometry>
        </collision>
        <inertial>
            <origin xyz="-2.0988305528217036958e-06 0.015050377580170262726 -0.021659280060218957797" rpy="0 0 0"/>
            <mass value="0.12860494827495116965" />
            <inertia ixx="4.6506247208995541212e-05" ixy="1.6921131916578308396e-09"  ixz="-3.4608427741392535036e-09" iyy="4.6246527094885944318e-05" iyz="1.0074294037198129599e-06" izz="1.066124497744399909e-05" />
        </inertial>
    </link>

    <link name="wheel_copy_1_2">
        <visual>
            <origin xyz="0.018849292529232345578 -0.025304642924407171056 -0.024199999508977193541" rpy="3.1415926535897824579 2.4975610434704742283e-14 1.8430678811939182893" />
            <geometry>
                <mesh filename="package://onshape_description/omnibot/axys_rod.stl"/>
            </geometry>
            <material name="axys_rod_material">
                <color rgba="0.61568627450980395466 0.81176470588235294379 0.92941176470588238168 1.0"/>
            </material>
        </visual>
        <collision>
            <origin xyz="0.018849292529232345578 -0.025304642924407171056 -0.024199999508977193541" rpy="3.1415926535897824579 2.4975610434704742283e-14 1.8430678811939182893" />
            <geometry>
                <mesh filename="package://onshape_description/omnibot/axys_rod.stl"/>
            </geometry>
        </collision>
        <visual>
            <origin xyz="-0.0029828434134281044642 0.031522754648305915948 -0.0099999970627596412864" rpy="4.2005655817613656565e-14 -5.1841797884783085731e-14 1.2985250346548573575" />
            <geometry>
                <mesh filename="package://onshape_description/omnibot/axys_rod.stl"/>
            </geometry>
            <material name="axys_rod_material">
                <color rgba="0.61568627450980395466 0.81176470588235294379 0.92941176470588238168 1.0"/>
            </material>
        </visual>
        <collision>
            <origin xyz="-0.0029828434134281044642 0.031522754648305915948 -0.0099999970627596412864" rpy="4.2005655817613656565e-14 -5.1841797884783085731e-14 1.2985250346548573575" />
            <geometry>
                <mesh filename="package://onshape_description/omnibot/axys_rod.stl"/>
            </geometry>
        </collision>
        <visual>
            <origin xyz="-0.019217739019544835544 -0.025322796751043243069 -0.010000003715206873256" rpy="4.2005655817613656565e-14 -5.1841797884783085731e-14 1.2985250346548573575" />
            <geometry>
                <mesh filename="package://onshape_description/omnibot/axys_rod.stl"/>
            </geometry>
            <material name="axys_rod_material">
                <color rgba="0.61568627450980395466 0.81176470588235294379 0.92941176470588238168 1.0"/>
            </material>
        </visual>
        <collision>
            <origin xyz="-0.019217739019544835544 -0.025322796751043243069 -0.010000003715206873256" rpy="4.2005655817613656565e-14 -5.1841797884783085731e-14 1.2985250346548573575" />
            <geometry>
                <mesh filename="package://onshape_description/omnibot/axys_rod.stl"/>
            </geometry>
        </collision>
        <visual>
            <origin xyz="-0.025693795923575037804 -0.018315214244014263456 -0.01000000145365198545" rpy="3.141592653589628803 1.3234888209220568653e-14 0.25132812119096076264" />
            <geometry>
                <mesh filename="package://onshape_description/omnibot/axys_rod.stl"/>
            </geometry>
            <material name="axys_rod_material">
                <color rgba="0.61568627450980395466 0.81176470588235294379 0.92941176470588238168 1.0"/>
            </material>
        </visual>
        <collision>
            <origin xyz="-0.025693795923575037804 -0.018315214244014263456 -0.01000000145365198545" rpy="3.141592653589628803 1.3234888209220568653e-14 0.25132812119096076264" />
            <geometry>
                <mesh filename="package://onshape_description/omnibot/axys_rod.stl"/>
            </geometry>
        </collision>
        <visual>
            <origin xyz="0.028708342606703383254 0.013093873839405011442 -0.024199995144406558079" rpy="3.141592653589708739 5.5073042485673033622e-14 0.79586976703608003358" />
            <geometry>
                <mesh filename="package://onshape_description/omnibot/axys_rod.stl"/>
            </geometry>
            <material name="axys_rod_material">
                <color rgba="0.61568627450980395466 0.81176470588235294379 0.92941176470588238168 1.0"/>
            </material>
        </visual>
        <collision>
            <origin xyz="0.028708342606703383254 0.013093873839405011442 -0.024199995144406558079" rpy="3.141592653589708739 5.5073042485673033622e-14 0.79586976703608003358" />
            <geometry>
                <mesh filename="package://onshape_description/omnibot/axys_rod.stl"/>
            </geometry>
        </collision>
        <visual>
            <origin xyz="0.025693839153636929135 -0.018315204092976419825 -0.024199999328582841307" rpy="3.1415926535896376848 -6.0604283548791744853e-14 -0.2513276440166913317" />
            <geometry>
                <mesh filename="package://onshape_description/omnibot/axys_rod.stl"/>
            </geometry>
            <material name="axys_rod_material">
                <color rgba="0.61568627450980395466 0.81176470588235294379 0.92941176470588238168 1.0"/>
            </material>
        </visual>
        <collision>
            <origin xyz="0.025693839153636929135 -0.018315204092976419825 -0.024199999328582841307" rpy="3.1415926535896376848 -6.0604283548791744853e-14 -0.2513276440166913317" />
            <geometry>
                <mesh filename="package://onshape_description/omnibot/axys_rod.stl"/>
            </geometry>
        </collision>
        <visual>
            <origin xyz="-1.9642150663116808781e-09 -1.789142948377397957e-10 -0.02219999980926946892" rpy="3.1415926535897229499 7.4943294040973101622e-14 1.0471975511966267192" />
            <geometry>
                <mesh filename="package://onshape_description/omnibot/omni_003_(solid)001.stl"/>
            </geometry>
            <material name="omni_003_(solid)001_material">
                <color rgba="0.98039215686274505668 0.79607843137254896693 0.26274509803921569651 1.0"/>
            </material>
        </visual>
        <collision>
            <origin xyz="-1.9642150663116808781e-09 -1.789142948377397957e-10 -0.02219999980926946892" rpy="3.1415926535897229499 7.4943294040973101622e-14 1.0471975511966267192" />
            <geometry>
                <mesh filename="package://onshape_description/omnibot/omni_003_(solid)001.stl"/>
            </geometry>
        </collision>
        <visual>
            <origin xyz="0.015937773618269389375 0.0042705139175617402164 -0.012000000000003174794" rpy="3.1415926535896292471 -2.3446450964856393812e-14 -2.2135071553463242054e-15" />
            <geometry>
                <mesh filename="package://onshape_description/omnibot/omni_spacer001_(solid)001.stl"/>
            </geometry>
            <material name="omni_spacer001_(solid)001_material">
                <color rgba="1 0.7568627450980391913 0.054901960784313724728 1.0"/>
            </material>
        </visual>
        <collision>
            <origin xyz="0.015937773618269389375 0.0042705139175617402164 -0.012000000000003174794" rpy="3.1415926535896292471 -2.3446450964856393812e-14 -2.2135071553463242054e-15" />
            <geometry>
                <mesh filename="package://onshape_description/omnibot/omni_spacer001_(solid)001.stl"/>
            </geometry>
        </collision>
        <visual>
            <origin xyz="2.0017601100052022387e-11 -1.9338657411549498022e-11 -0.012000000000003160916" rpy="-9.6437600758971797895e-29 1.3734717511968381297e-18 1.9644485432749808438e-32" />
            <geometry>
                <mesh filename="package://onshape_description/omnibot/omni_1_4mm_hole001_(solid).stl"/>
            </geometry>
            <material name="omni_1_4mm_hole001_(solid)_material">
                <color rgba="1 0.7568627450980391913 0.054901960784313724728 1.0"/>
            </material>
        </visual>
        <collision>
            <origin xyz="2.0017601100052022387e-11 -1.9338657411549498022e-11 -0.012000000000003160916" rpy="-9.6437600758971797895e-29 1.3734717511968381297e-18 1.9644485432749808438e-32" />
            <geometry>
                <mesh filename="package://onshape_description/omnibot/omni_1_4mm_hole001_(solid).stl"/>
            </geometry>
        </collision>
        <visual>
            <origin xyz="-0.028790909644559475183 0.013178153068649573615 -0.010000000622266497219" rpy="3.1415926535896803173 -1.2722867235361430055e-13 -0.79586931499758117869" />
            <geometry>
                <mesh filename="package://onshape_description/omnibot/axys_rod.stl"/>
            </geometry>
            <material name="axys_rod_material">
                <color rgba="0.61568627450980395466 0.81176470588235294379 0.92941176470588238168 1.0"/>
            </material>
        </visual>
        <collision>
            <origin xyz="-0.028790909644559475183 0.013178153068649573615 -0.010000000622266497219" rpy="3.1415926535896803173 -1.2722867235361430055e-13 -0.79586931499758117869" />
            <geometry>
                <mesh filename="package://onshape_description/omnibot/axys_rod.stl"/>
            </geometry>
        </collision>
        <visual>
            <origin xyz="0.025808116021087221248 0.018344566682610811276 -0.010000000481623472215" rpy="1.472649821589582936e-15 -2.2377546932680810455e-17 0.25132812119096276104" />
            <geometry>
                <mesh filename="package://onshape_description/omnibot/axys_rod.stl"/>
            </geometry>
            <material name="axys_rod_material">
                <color rgba="0.61568627450980395466 0.81176470588235294379 0.92941176470588238168 1.0"/>
            </material>
        </visual>
        <collision>
            <origin xyz="0.025808116021087221248 0.018344566682610811276 -0.010000000481623472215" rpy="1.472649821589582936e-15 -2.2377546932680810455e-17 0.25132812119096276104" />
            <geometry>
                <mesh filename="package://onshape_description/omnibot/axys_rod.stl"/>
            </geometry>
        </collision>
        <visual>
            <origin xyz="-0.025693825391885624643 0.018315274927573725605 -0.02419999957345080055" rpy="-4.0092455456344933799e-16 -5.4850493403234203272e-16 -0.25132764401668961085" />
            <geometry>
                <mesh filename="package://onshape_description/omnibot/axys_rod.stl"/>
            </geometry>
            <material name="axys_rod_material">
                <color rgba="0.61568627450980395466 0.81176470588235294379 0.92941176470588238168 1.0"/>
            </material>
        </visual>
        <collision>
            <origin xyz="-0.025693825391885624643 0.018315274927573725605 -0.02419999957345080055" rpy="-4.0092455456344933799e-16 -5.4850493403234203272e-16 -0.25132764401668961085" />
            <geometry>
                <mesh filename="package://onshape_description/omnibot/axys_rod.stl"/>
            </geometry>
        </collision>
        <visual>
            <origin xyz="-0.015937773364186821889 -0.0042705132347593665471 -0.01200000000000313316" rpy="3.1415926535896292471 -2.3446450964856393812e-14 -2.2135071553463242054e-15" />
            <geometry>
                <mesh filename="package://onshape_description/omnibot/omni_spacer001_(solid)001.stl"/>
            </geometry>
            <material name="omni_spacer001_(solid)001_material">
                <color rgba="1 0.7568627450980391913 0.054901960784313724728 1.0"/>
            </material>
        </visual>
        <collision>
            <origin xyz="-0.015937773364186821889 -0.0042705132347593665471 -0.01200000000000313316" rpy="3.1415926535896292471 -2.3446450964856393812e-14 -2.2135071553463242054e-15" />
            <geometry>
                <mesh filename="package://onshape_description/omnibot/omni_spacer001_(solid)001.stl"/>
            </geometry>
        </collision>
        <visual>
            <origin xyz="0.028790823204505277405 -0.013178235601434445598 -0.010000000285350058027" rpy="-4.2905174741234183653e-15 -4.6783202105408925601e-15 -0.79586931499757895825" />
            <geometry>
                <mesh filename="package://onshape_description/omnibot/axys_rod.stl"/>
            </geometry>
            <material name="axys_rod_material">
                <color rgba="0.61568627450980395466 0.81176470588235294379 0.92941176470588238168 1.0"/>
            </material>
        </visual>
        <collision>
            <origin xyz="0.028790823204505277405 -0.013178235601434445598 -0.010000000285350058027" rpy="-4.2905174741234183653e-15 -4.6783202105408925601e-15 -0.79586931499757895825" />
            <geometry>
                <mesh filename="package://onshape_description/omnibot/axys_rod.stl"/>
            </geometry>
        </collision>
        <visual>
            <origin xyz="0.0030145071180057879043 0.031409130275873560489 -0.024199999101467986606" rpy="3.1415926535897829019 2.6543656156684087273e-14 1.8430678811939189554" />
            <geometry>
                <mesh filename="package://onshape_description/omnibot/axys_rod.stl"/>
            </geometry>
            <material name="axys_rod_material">
                <color rgba="0.61568627450980395466 0.81176470588235294379 0.92941176470588238168 1.0"/>
            </material>
        </visual>
        <collision>
            <origin xyz="0.0030145071180057879043 0.031409130275873560489 -0.024199999101467986606" rpy="3.1415926535897829019 2.6543656156684087273e-14 1.8430678811939189554" />
            <geometry>
                <mesh filename="package://onshape_description/omnibot/axys_rod.stl"/>
            </geometry>
        </collision>
        <visual>
            <origin xyz="-0.028708344080533639009 -0.013093882512645068153 -0.0241999984182880018" rpy="5.7940218139110523587e-14 -3.4959454622245600322e-14 0.79586976703608203199" />
            <geometry>
                <mesh filename="package://onshape_description/omnibot/axys_rod.stl"/>
            </geometry>
            <material name="axys_rod_material">
                <color rgba="0.61568627450980395466 0.81176470588235294379 0.92941176470588238168 1.0"/>
            </material>
        </visual>
        <collision>
            <origin xyz="-0.028708344080533639009 -0.013093882512645068153 -0.0241999984182880018" rpy="5.7940218139110523587e-14 -3.4959454622245600322e-14 0.79586976703608203199" />
            <geometry>
                <mesh filename="package://onshape_description/omnibot/axys_rod.stl"/>
            </geometry>
        </collision>
        <inertial>
            <origin xyz="-9.458891715985227953e-06 -8.8415141497915611239e-06 -0.015131125342709187895" rpy="0 0 0"/>
            <mass value="0.019223052335254627032" />
            <inertia ixx="5.3992629534639384676e-06" ixy="-7.3246329002134213874e-08"  ixz="-1.2642889980050191124e-09" iyy="5.655797917650548497e-06" iyz="1.909864929100220743e-09" izz="8.6846392930512310472e-06" />
        </inertial>
    </link>

    <link name="omni_roller001_(solid)001_13">
        <visual>
            <origin xyz="1.3877787807814456755e-17 0 -5.2041704279304212832e-18" rpy="1.529457581623276099e-17 -1.8336871815575023567e-17 -9.8203904534139089978e-17" />
            <geometry>
                <mesh filename="package://onshape_description/omnibot/omni_roller001_(solid)001.stl"/>
            </geometry>
            <material name="omni_roller001_(solid)001_material">
                <color rgba="0.098039215686274508443 0.098039215686274508443 0.098039215686274508443 1.0"/>
            </material>
        </visual>
        <collision>
            <origin xyz="1.3877787807814456755e-17 0 -5.2041704279304212832e-18" rpy="1.529457581623276099e-17 -1.8336871815575023567e-17 -9.8203904534139089978e-17" />
            <geometry>
                <mesh filename="package://onshape_description/omnibot/omni_roller001_(solid)001.stl"/>
            </geometry>
        </collision>
        <inertial>
            <origin xyz="4.0756135809000832195e-11 8.4957103231394481559e-11 2.4283844031747271012e-11" rpy="0 0 0"/>
            <mass value="0.0037899803393768713086" />
            <inertia ixx="1.8303635244743851546e-07" ixy="4.2716078377861467701e-16"  ixz="-1.7514569768139957276e-15" iyy="1.830363607521377626e-07" iyz="-3.3429143034366959391e-15" izz="9.8097062080638974005e-08" />
        </inertial>
    </link>

    <joint name="roller1_1" type="revolute">
        <origin xyz="0.020681564833507012913 -0.021119421197577786797 -0.010000000285349988638" rpy="1.5707963267949061059 1.0909579429998594868 2.3457233385922195978" />
        <parent link="wheel_copy_1_2" />
        <child link="omni_roller001_(solid)001_13" />
        <axis xyz="0 0 1"/>
        <limit effort="1" velocity="20" lower="-6.283185307179586232" upper="6.283185307179586232"/>
        <joint_properties friction="0.0"/>
    </joint>

    <link name="omni_roller001_(solid)001_14">
        <visual>
            <origin xyz="0 0 1.3010426069826053208e-18" rpy="-8.4298562286280542984e-18 -7.8453309802743563082e-19 1.9715759919764646164e-19" />
            <geometry>
                <mesh filename="package://onshape_description/omnibot/omni_roller001_(solid)001.stl"/>
            </geometry>
            <material name="omni_roller001_(solid)001_material">
                <color rgba="0.098039215686274508443 0.098039215686274508443 0.098039215686274508443 1.0"/>
            </material>
        </visual>
        <collision>
            <origin xyz="0 0 1.3010426069826053208e-18" rpy="-8.4298562286280542984e-18 -7.8453309802743563082e-19 1.9715759919764646164e-19" />
            <geometry>
                <mesh filename="package://onshape_description/omnibot/omni_roller001_(solid)001.stl"/>
            </geometry>
        </collision>
        <inertial>
            <origin xyz="4.0756121931213024381e-11 8.4957103231394494483e-11 2.4283850536960302694e-11" rpy="0 0 0"/>
            <mass value="0.0037899803393768713086" />
            <inertia ixx="1.8303635244743851546e-07" ixy="4.271608084847845943e-16"  ixz="-1.7514569817582544207e-15" iyy="1.8303636075213781554e-07" iyz="-3.3429143092265413419e-15" izz="9.8097062080638921065e-08" />
        </inertial>
    </link>

    <joint name="roller1_2" type="revolute">
        <origin xyz="-0.0082858436691602404406 -0.028375035936991761798 -0.010000003715207345101" rpy="-0.27227129214004219815 -1.5707963267730764567 0" />
        <parent link="wheel_copy_1_2" />
        <child link="omni_roller001_(solid)001_14" />
        <axis xyz="0 0 1"/>
        <limit effort="1" velocity="20" lower="-6.283185307179586232" upper="6.283185307179586232"/>
        <joint_properties friction="0.0"/>
    </joint>

    <link name="omni_roller001_(solid)001_15">
        <visual>
            <origin xyz="-3.4694469519536141888e-18 0 0" rpy="-7.7526322789589880308e-19 -6.6380404541765498119e-19 2.1789987656843450952e-18" />
            <geometry>
                <mesh filename="package://onshape_description/omnibot/omni_roller001_(solid)001.stl"/>
            </geometry>
            <material name="omni_roller001_(solid)001_material">
                <color rgba="0.098039215686274508443 0.098039215686274508443 0.098039215686274508443 1.0"/>
            </material>
        </visual>
        <collision>
            <origin xyz="-3.4694469519536141888e-18 0 0" rpy="-7.7526322789589880308e-19 -6.6380404541765498119e-19 2.1789987656843450952e-18" />
            <geometry>
                <mesh filename="package://onshape_description/omnibot/omni_roller001_(solid)001.stl"/>
            </geometry>
        </collision>
        <inertial>
            <origin xyz="4.0756118461766072427e-11 8.4957103231394507408e-11 2.428384923591769248e-11" rpy="0 0 0"/>
            <mass value="0.0037899803393768713086" />
            <inertia ixx="1.8303635244743851546e-07" ixy="4.2716080862675766635e-16"  ixz="-1.7514569830438472328e-15" iyy="1.8303636075213792142e-07" iyz="-3.3429143053048053374e-15" izz="9.8097062080638894596e-08" />
        </inertial>
    </link>

    <joint name="roller1_3" type="revolute">
        <origin xyz="0.028630754033683810528 0.0073511498047768384506 -0.010000000481623472215" rpy="1.5707963267948981123 1.0048464819218720938e-12 0.25132812119095865322" />
        <parent link="wheel_copy_1_2" />
        <child link="omni_roller001_(solid)001_15" />
        <axis xyz="0 0 1"/>
        <limit effort="1" velocity="20" lower="-6.283185307179586232" upper="6.283185307179586232"/>
        <joint_properties friction="0.0"/>
    </joint>

    <link name="omni_roller001_(solid)001_16">
        <visual>
            <origin xyz="0 -1.7347234759768070944e-18 -8.6736173798840354721e-19" rpy="-6.1896120196865355116e-17 5.1129573616352087509e-19 -2.2376895584582890965e-19" />
            <geometry>
                <mesh filename="package://onshape_description/omnibot/omni_roller001_(solid)001.stl"/>
            </geometry>
            <material name="omni_roller001_(solid)001_material">
                <color rgba="0.098039215686274508443 0.098039215686274508443 0.098039215686274508443 1.0"/>
            </material>
        </visual>
        <collision>
            <origin xyz="0 -1.7347234759768070944e-18 -8.6736173798840354721e-19" rpy="-6.1896120196865355116e-17 5.1129573616352087509e-19 -2.2376895584582890965e-19" />
            <geometry>
                <mesh filename="package://onshape_description/omnibot/omni_roller001_(solid)001.stl"/>
            </geometry>
        </collision>
        <inertial>
            <origin xyz="4.0756121931213017919e-11 8.4957101496671005582e-11 2.4283848368555948029e-11" rpy="0 0 0"/>
            <mass value="0.0037899803393768713086" />
            <inertia ixx="1.8303635244743846252e-07" ixy="4.271608083419262724e-16"  ixz="-1.7514569818973205403e-15" iyy="1.8303636075213770966e-07" iyz="-3.3429143143806334859e-15" izz="9.8097062080638894596e-08" />
        </inertial>
    </link>

    <joint name="roller1_4" type="revolute">
        <origin xyz="0.0079490519369564936747 0.028470515462357390279 -0.009999997062760127009" rpy="-0.27227129214004230917 -1.5707963267737303781 0" />
        <parent link="wheel_copy_1_2" />
        <child link="omni_roller001_(solid)001_16" />
        <axis xyz="0 0 1"/>
        <limit effort="1" velocity="20" lower="-6.283185307179586232" upper="6.283185307179586232"/>
        <joint_properties friction="0.0"/>
    </joint>

    <link name="omni_roller001_(solid)001_17">
        <visual>
            <origin xyz="0 1.7347234759768070944e-18 0" rpy="-4.567005897653634785e-17 1.8679346480056990112e-18 4.6266415526240120207e-19" />
            <geometry>
                <mesh filename="package://onshape_description/omnibot/omni_roller001_(solid)001.stl"/>
            </geometry>
            <material name="omni_roller001_(solid)001_material">
                <color rgba="0.098039215686274508443 0.098039215686274508443 0.098039215686274508443 1.0"/>
            </material>
        </visual>
        <collision>
            <origin xyz="0 1.7347234759768070944e-18 0" rpy="-4.567005897653634785e-17 1.8679346480056990112e-18 4.6266415526240120207e-19" />
            <geometry>
                <mesh filename="package://onshape_description/omnibot/omni_roller001_(solid)001.stl"/>
            </geometry>
        </collision>
        <inertial>
            <origin xyz="4.0756121931213017919e-11 8.4957104966117957536e-11 2.428384923591769248e-11" rpy="0 0 0"/>
            <mass value="0.0037899803393768713086" />
            <inertia ixx="1.8303635244743846252e-07" ixy="4.2716080873563171254e-16"  ixz="-1.751456982431557064e-15" iyy="1.8303636075213781554e-07" iyz="-3.3429143086998425813e-15" izz="9.8097062080638921065e-08" />
        </inertial>
    </link>

    <joint name="roller1_5" type="revolute">
        <origin xyz="-0.0079173874319012904621 0.028356888222937394473 -0.024199999101468097629" rpy="-0.27227155439902406275 1.5707963267896605242 0" />
        <parent link="wheel_copy_1_2" />
        <child link="omni_roller001_(solid)001_17" />
        <axis xyz="0 0 1"/>
        <limit effort="1" velocity="20" lower="-6.283185307179586232" upper="6.283185307179586232"/>
        <joint_properties friction="0.0"/>
    </joint>

    <link name="omni_roller001_(solid)001_18">
        <visual>
            <origin xyz="-1.3877787807814456755e-17 0 1.7347234759768070944e-18" rpy="4.3951875227906068772e-17 -1.5499468619375446918e-19 -1.414419987487190416e-18" />
            <geometry>
                <mesh filename="package://onshape_description/omnibot/omni_roller001_(solid)001.stl"/>
            </geometry>
            <material name="omni_roller001_(solid)001_material">
                <color rgba="0.098039215686274508443 0.098039215686274508443 0.098039215686274508443 1.0"/>
            </material>
        </visual>
        <collision>
            <origin xyz="-1.3877787807814456755e-17 0 1.7347234759768070944e-18" rpy="4.3951875227906068772e-17 -1.5499468619375446918e-19 -1.414419987487190416e-18" />
            <geometry>
                <mesh filename="package://onshape_description/omnibot/omni_roller001_(solid)001.stl"/>
            </geometry>
        </collision>
        <inertial>
            <origin xyz="4.0756108053425216566e-11 8.4957103231394494483e-11 2.4283850970641174919e-11" rpy="0 0 0"/>
            <mass value="0.0037899803393768713086" />
            <inertia ixx="1.8303635244743851546e-07" ixy="4.2716080819425949816e-16"  ixz="-1.7514569819668195805e-15" iyy="1.8303636075213781554e-07" iyz="-3.3429142867561074582e-15" izz="9.8097062080638921065e-08" />
        </inertial>
    </link>

    <joint name="roller1_6" type="revolute">
        <origin xyz="-0.020681651273561186405 0.02111933866479290961 -0.010000000622267773975" rpy="0.77492701179731848793 -1.5707963267377647032 0" />
        <parent link="wheel_copy_1_2" />
        <child link="omni_roller001_(solid)001_18" />
        <axis xyz="0 0 1"/>
        <limit effort="1" velocity="20" lower="-6.283185307179586232" upper="6.283185307179586232"/>
        <joint_properties friction="0.0"/>
    </joint>

    <link name="omni_roller001_(solid)001_19">
        <visual>
            <origin xyz="0 0 -1.7347234759768070944e-18" rpy="-8.5209167910087722453e-20 -4.3986816502910409527e-17 1.2367784871650641079e-18" />
            <geometry>
                <mesh filename="package://onshape_description/omnibot/omni_roller001_(solid)001.stl"/>
            </geometry>
            <material name="omni_roller001_(solid)001_material">
                <color rgba="0.098039215686274508443 0.098039215686274508443 0.098039215686274508443 1.0"/>
            </material>
        </visual>
        <collision>
            <origin xyz="0 0 -1.7347234759768070944e-18" rpy="-8.5209167910087722453e-20 -4.3986816502910409527e-17 1.2367784871650641079e-18" />
            <geometry>
                <mesh filename="package://onshape_description/omnibot/omni_roller001_(solid)001.stl"/>
            </geometry>
        </collision>
        <inertial>
            <origin xyz="4.0756121931213024381e-11 8.4957103231394494483e-11 2.4283847501194229428e-11" rpy="0 0 0"/>
            <mass value="0.0037899803393768713086" />
            <inertia ixx="1.8303635244743851546e-07" ixy="4.2716080870170334735e-16"  ixz="-1.7514569778336276354e-15" iyy="1.8303636075213781554e-07" iyz="-3.3429143052382597925e-15" izz="9.8097062080638974005e-08" />
        </inertial>
    </link>

    <joint name="roller1_7" type="revolute">
        <origin xyz="-0.028516458158706178144 0.0073218567028507635513 -0.02419999957345080055" rpy="-1.5707963267948970021 -1.1014859471559537001e-13 -0.25132764401668455934" />
        <parent link="wheel_copy_1_2" />
        <child link="omni_roller001_(solid)001_19" />
        <axis xyz="0 0 1"/>
        <limit effort="1" velocity="20" lower="-6.283185307179586232" upper="6.283185307179586232"/>
        <joint_properties friction="0.0"/>
    </joint>

    <link name="omni_roller001_(solid)001_20">
        <visual>
            <origin xyz="0 0 0" rpy="-3.2447803755446885387e-21 -2.0715094013001048523e-17 -1.3985925114867347178e-19" />
            <geometry>
                <mesh filename="package://onshape_description/omnibot/omni_roller001_(solid)001.stl"/>
            </geometry>
            <material name="omni_roller001_(solid)001_material">
                <color rgba="0.098039215686274508443 0.098039215686274508443 0.098039215686274508443 1.0"/>
            </material>
        </visual>
        <collision>
            <origin xyz="0 0 0" rpy="-3.2447803755446885387e-21 -2.0715094013001048523e-17 -1.3985925114867347178e-19" />
            <geometry>
                <mesh filename="package://onshape_description/omnibot/omni_roller001_(solid)001.stl"/>
            </geometry>
        </collision>
        <inertial>
            <origin xyz="4.0756121931213017919e-11 8.4957103231394507408e-11 2.428384923591769248e-11" rpy="0 0 0"/>
            <mass value="0.0037899803393768713086" />
            <inertia ixx="1.8303635244743846252e-07" ixy="4.2716080767852718606e-16"  ixz="-1.7514569796738178657e-15" iyy="1.8303636075213792142e-07" iyz="-3.3429143052011056271e-15" izz="9.8097062080638894596e-08" />
        </inertial>
    </link>

    <joint name="roller1_8" type="revolute">
        <origin xyz="-0.028516433936171609737 -0.007321797366180290631 -0.010000001453653886707" rpy="1.570796326794732245 -8.2871783507785804512e-11 0.25132812119095743197" />
        <parent link="wheel_copy_1_2" />
        <child link="omni_roller001_(solid)001_20" />
        <axis xyz="0 0 1"/>
        <limit effort="1" velocity="20" lower="-6.283185307179586232" upper="6.283185307179586232"/>
        <joint_properties friction="0.0"/>
    </joint>

    <link name="omni_roller001_(solid)001_21">
        <visual>
            <origin xyz="0 0 -1.7347234759768070944e-18" rpy="8.0160153147414535479e-17 -6.0213865923998968489e-19 1.0495818684594621493e-18" />
            <geometry>
                <mesh filename="package://onshape_description/omnibot/omni_roller001_(solid)001.stl"/>
            </geometry>
            <material name="omni_roller001_(solid)001_material">
                <color rgba="0.098039215686274508443 0.098039215686274508443 0.098039215686274508443 1.0"/>
            </material>
        </visual>
        <collision>
            <origin xyz="0 0 -1.7347234759768070944e-18" rpy="8.0160153147414535479e-17 -6.0213865923998968489e-19 1.0495818684594621493e-18" />
            <geometry>
                <mesh filename="package://onshape_description/omnibot/omni_roller001_(solid)001.stl"/>
            </geometry>
        </collision>
        <inertial>
            <origin xyz="4.0756121931213024381e-11 8.4957103231394494483e-11 2.4283847501194226197e-11" rpy="0 0 0"/>
            <mass value="0.0037899803393768713086" />
            <inertia ixx="1.8303635244743851546e-07" ixy="4.2716080835293906646e-16"  ixz="-1.7514569819104110954e-15" iyy="1.8303636075213781554e-07" iyz="-3.3429142897623285726e-15" izz="9.8097062080638921065e-08" />
        </inertial>
    </link>

    <joint name="roller1_9" type="revolute">
        <origin xyz="-0.020599082119814541431 -0.021035064443090577269 -0.024199998418288681812" rpy="0.77492655975881996611 1.5707963267658062723 0" />
        <parent link="wheel_copy_1_2" />
        <child link="omni_roller001_(solid)001_21" />
        <axis xyz="0 0 1"/>
        <limit effort="1" velocity="20" lower="-6.283185307179586232" upper="6.283185307179586232"/>
        <joint_properties friction="0.0"/>
    </joint>

    <link name="omni_roller001_(solid)001_22">
        <visual>
            <origin xyz="-1.3877787807814456755e-17 0 1.7347234759768070944e-18" rpy="2.6448788799693207566e-17 -1.0069572933044452326e-18 1.9008760717502251214e-19" />
            <geometry>
                <mesh filename="package://onshape_description/omnibot/omni_roller001_(solid)001.stl"/>
            </geometry>
            <material name="omni_roller001_(solid)001_material">
                <color rgba="0.098039215686274508443 0.098039215686274508443 0.098039215686274508443 1.0"/>
            </material>
        </visual>
        <collision>
            <origin xyz="-1.3877787807814456755e-17 0 1.7347234759768070944e-18" rpy="2.6448788799693207566e-17 -1.0069572933044452326e-18 1.9008760717502251214e-19" />
            <geometry>
                <mesh filename="package://onshape_description/omnibot/omni_roller001_(solid)001.stl"/>
            </geometry>
        </collision>
        <inertial>
            <origin xyz="4.0756108053425216566e-11 8.4957103231394494483e-11 2.4283850970641174919e-11" rpy="0 0 0"/>
            <mass value="0.0037899803393768713086" />
            <inertia ixx="1.8303635244743851546e-07" ixy="4.2716080850149863403e-16"  ixz="-1.7514569817410057798e-15" iyy="1.8303636075213781554e-07" iyz="-3.342914300419621282e-15" izz="9.8097062080638921065e-08" />
        </inertial>
    </link>

    <joint name="roller1_10" type="revolute">
        <origin xyz="0.0079173979793252628745 -0.028356884977343330134 -0.024199999508977332319" rpy="0.27227155439902417378 -1.5707963267896867254 0" />
        <parent link="wheel_copy_1_2" />
        <child link="omni_roller001_(solid)001_22" />
        <axis xyz="0 0 1"/>
        <limit effort="1" velocity="20" lower="-6.283185307179586232" upper="6.283185307179586232"/>
        <joint_properties friction="0.0"/>
    </joint>

    <link name="omni_roller001_(solid)001_23">
        <visual>
            <origin xyz="0 -1.3877787807814456755e-17 0" rpy="2.7083631284828562995e-19 1.10824401641843223e-17 7.6982372896381988689e-21" />
            <geometry>
                <mesh filename="package://onshape_description/omnibot/omni_roller001_(solid)001.stl"/>
            </geometry>
            <material name="omni_roller001_(solid)001_material">
                <color rgba="0.098039215686274508443 0.098039215686274508443 0.098039215686274508443 1.0"/>
            </material>
        </visual>
        <collision>
            <origin xyz="0 -1.3877787807814456755e-17 0" rpy="2.7083631284828562995e-19 1.10824401641843223e-17 7.6982372896381988689e-21" />
            <geometry>
                <mesh filename="package://onshape_description/omnibot/omni_roller001_(solid)001.stl"/>
            </geometry>
        </collision>
        <inertial>
            <origin xyz="4.0756121931213017919e-11 8.4957089353606686669e-11 2.4283849235917695711e-11" rpy="0 0 0"/>
            <mass value="0.0037899803393768713086" />
            <inertia ixx="1.8303635244743846252e-07" ixy="4.2716080823355275846e-16"  ixz="-1.7514569793456933416e-15" iyy="1.8303636075213781554e-07" iyz="-3.3429143052202323486e-15" izz="9.8097062080638921065e-08" />
        </inertial>
    </link>

    <joint name="roller1_11" type="revolute">
        <origin xyz="0.028516471920457503453 -0.0073217858682534681797 -0.024199999328584603786" rpy="-1.5707963267950522113 -7.8521151092103384432e-11 -0.25132764401668583609" />
        <parent link="wheel_copy_1_2" />
        <child link="omni_roller001_(solid)001_23" />
        <axis xyz="0 0 1"/>
        <limit effort="1" velocity="20" lower="-6.283185307179586232" upper="6.283185307179586232"/>
        <joint_properties friction="0.0"/>
    </joint>

    <link name="omni_roller001_(solid)001_24">
        <visual>
            <origin xyz="0 0 0" rpy="4.4046469302555590376e-17 5.0797675097543142032e-19 5.2669060220647371049e-19" />
            <geometry>
                <mesh filename="package://onshape_description/omnibot/omni_roller001_(solid)001.stl"/>
            </geometry>
            <material name="omni_roller001_(solid)001_material">
                <color rgba="0.098039215686274508443 0.098039215686274508443 0.098039215686274508443 1.0"/>
            </material>
        </visual>
        <collision>
            <origin xyz="0 0 0" rpy="4.4046469302555590376e-17 5.0797675097543142032e-19 5.2669060220647371049e-19" />
            <geometry>
                <mesh filename="package://onshape_description/omnibot/omni_roller001_(solid)001.stl"/>
            </geometry>
        </collision>
        <inertial>
            <origin xyz="4.0756121931213024381e-11 8.4957103231394481559e-11 2.4283849235917698942e-11" rpy="0 0 0"/>
            <mass value="0.0037899803393768713086" />
            <inertia ixx="1.8303635244743851546e-07" ixy="4.2716080878282225936e-16"  ixz="-1.7514569819100835209e-15" iyy="1.830363607521377626e-07" iyz="-3.3429143013396421457e-15" izz="9.8097062080638921065e-08" />
        </inertial>
    </link>

    <joint name="roller1_" type="revolute">
        <origin xyz="0.020599080645984299553 0.021035055769850524027 -0.024199995144407543401" rpy="0.77492655975882129837 1.5707963267947941954 0" />
        <parent link="wheel_copy_1_2" />
        <child link="omni_roller001_(solid)001_24" />
        <axis xyz="0 0 1"/>
        <limit effort="1" velocity="20" lower="-6.283185307179586232" upper="6.283185307179586232"/>
        <joint_properties friction="0.0"/>
    </joint>

    <joint name="wheel1_speed" type="revolute">
        <origin xyz="-2.6281491543248572134e-19 0.01522932865786030994 2.9999999999627546821e-05" rpy="-3.141592653589793116 -4.5293037956299790577e-17 5.0230669138614543665e-16" />
        <parent link="assembly_motor_2" />
        <child link="wheel_copy_1_2" />
        <axis xyz="0 0 1"/>
        <limit effort="1" velocity="20" lower="-6.283185307179586232" upper="6.283185307179586232"/>
        <joint_properties friction="0.0"/>
    </joint>

    <joint name="motor2" type="fixed">
        <origin xyz="-0.0011464255543250467632 0.084303028851025418877 -1.561251128379126385e-17" rpy="-1.57079632679489678 2.4978401230941900222e-18 0.013598027361811270558" />
        <parent link="body" />
        <child link="assembly_motor_2" />
        <axis xyz="0 0 1"/>
        <limit effort="1" velocity="20" />
        <joint_properties friction="0.0"/>
    </joint>

    <link name="assembly_motor_3">
        <visual>
            <origin xyz="7.6908859669402865442e-18 0.01522932865786030994 -0.057370000000000004325" rpy="-2.4651903288156618919e-32 -7.8754369550006080045e-17 0" />
            <geometry>
                <mesh filename="package://onshape_description/omnibot/part_1.stl"/>
            </geometry>
            <material name="part_1_material">
                <color rgba="0.90196078431372550543 0.91764705882352937127 0.92941176470588238168 1.0"/>
            </material>
        </visual>
        <collision>
            <origin xyz="7.6908859669402865442e-18 0.01522932865786030994 -0.057370000000000004325" rpy="-2.4651903288156618919e-32 -7.8754369550006080045e-17 0" />
            <geometry>
                <mesh filename="package://onshape_description/omnibot/part_1.stl"/>
            </geometry>
        </collision>
        <inertial>
            <origin xyz="-2.0988305528127818978e-06 0.01505037758017026446 -0.021659280060218930042" rpy="0 0 0"/>
            <mass value="0.12860494827495116965" />
            <inertia ixx="4.6506247208995554765e-05" ixy="1.6921131916578544142e-09"  ixz="-3.4608427741354364787e-09" iyy="4.6246527094885944318e-05" iyz="1.0074294037198129599e-06" izz="1.066124497744399909e-05" />
        </inertial>
    </link>

    <link name="wheel_copy_1_3">
        <visual>
            <origin xyz="0.018849292529230055743 -0.025304642924402136889 -0.024199999508976388629" rpy="3.1415926535897922278 -6.2556041467053793921e-16 1.8430678811938723261" />
            <geometry>
                <mesh filename="package://onshape_description/omnibot/axys_rod.stl"/>
            </geometry>
            <material name="axys_rod_material">
                <color rgba="0.61568627450980395466 0.81176470588235294379 0.92941176470588238168 1.0"/>
            </material>
        </visual>
        <collision>
            <origin xyz="0.018849292529230055743 -0.025304642924402136889 -0.024199999508976388629" rpy="3.1415926535897922278 -6.2556041467053793921e-16 1.8430678811938723261" />
            <geometry>
                <mesh filename="package://onshape_description/omnibot/axys_rod.stl"/>
            </geometry>
        </collision>
        <visual>
            <origin xyz="-0.0029828434134273520278 0.031522754648300461977 -0.0099999970627584061633" rpy="2.5157773628767042655e-16 -1.0802120975874155224e-15 1.2985250346548165012" />
            <geometry>
                <mesh filename="package://onshape_description/omnibot/axys_rod.stl"/>
            </geometry>
            <material name="axys_rod_material">
                <color rgba="0.61568627450980395466 0.81176470588235294379 0.92941176470588238168 1.0"/>
            </material>
        </visual>
        <collision>
            <origin xyz="-0.0029828434134273520278 0.031522754648300461977 -0.0099999970627584061633" rpy="2.5157773628767042655e-16 -1.0802120975874155224e-15 1.2985250346548165012" />
            <geometry>
                <mesh filename="package://onshape_description/omnibot/axys_rod.stl"/>
            </geometry>
        </collision>
        <visual>
            <origin xyz="-0.019217739019543440826 -0.02532279675103921851 -0.010000003715208080624" rpy="2.5157773628767042655e-16 -1.0802120975874155224e-15 1.2985250346548165012" />
            <geometry>
                <mesh filename="package://onshape_description/omnibot/axys_rod.stl"/>
            </geometry>
            <material name="axys_rod_material">
                <color rgba="0.61568627450980395466 0.81176470588235294379 0.92941176470588238168 1.0"/>
            </material>
        </visual>
        <collision>
            <origin xyz="-0.019217739019543440826 -0.02532279675103921851 -0.010000003715208080624" rpy="2.5157773628767042655e-16 -1.0802120975874155224e-15 1.2985250346548165012" />
            <geometry>
                <mesh filename="package://onshape_description/omnibot/axys_rod.stl"/>
            </geometry>
        </collision>
        <visual>
            <origin xyz="-0.025693795923572987361 -0.018315214244011380346 -0.010000001453652873629" rpy="-3.1415926535897917837 -6.019224116703367302e-16 0.25132812119095593317" />
            <geometry>
                <mesh filename="package://onshape_description/omnibot/axys_rod.stl"/>
            </geometry>
            <material name="axys_rod_material">
                <color rgba="0.61568627450980395466 0.81176470588235294379 0.92941176470588238168 1.0"/>
            </material>
        </visual>
        <collision>
            <origin xyz="-0.025693795923572987361 -0.018315214244011380346 -0.010000001453652873629" rpy="-3.1415926535897917837 -6.019224116703367302e-16 0.25132812119095593317" />
            <geometry>
                <mesh filename="package://onshape_description/omnibot/axys_rod.stl"/>
            </geometry>
        </collision>
        <visual>
            <origin xyz="0.028708342606700684024 0.013093873839403396414 -0.024199995144404309877" rpy="-3.1415926535897922278 -4.6161115813843687421e-16 0.79586976703605827321" />
            <geometry>
                <mesh filename="package://onshape_description/omnibot/axys_rod.stl"/>
            </geometry>
            <material name="axys_rod_material">
                <color rgba="0.61568627450980395466 0.81176470588235294379 0.92941176470588238168 1.0"/>
            </material>
        </visual>
        <collision>
            <origin xyz="0.028708342606700684024 0.013093873839403396414 -0.024199995144404309877" rpy="-3.1415926535897922278 -4.6161115813843687421e-16 0.79586976703605827321" />
            <geometry>
                <mesh filename="package://onshape_description/omnibot/axys_rod.stl"/>
            </geometry>
        </collision>
        <visual>
            <origin xyz="0.025693839153634032146 -0.018315204092972534045 -0.024199999328581911495" rpy="-3.1415926535897926719 3.138874488057412807e-16 -0.25132764401668161725" />
            <geometry>
                <mesh filename="package://onshape_description/omnibot/axys_rod.stl"/>
            </geometry>
            <material name="axys_rod_material">
                <color rgba="0.61568627450980395466 0.81176470588235294379 0.92941176470588238168 1.0"/>
            </material>
        </visual>
        <collision>
            <origin xyz="0.025693839153634032146 -0.018315204092972534045 -0.024199999328581911495" rpy="-3.1415926535897926719 3.138874488057412807e-16 -0.25132764401668161725" />
            <geometry>
                <mesh filename="package://onshape_description/omnibot/axys_rod.stl"/>
            </geometry>
        </collision>
        <visual>
            <origin xyz="-1.9642151672522034644e-09 -1.789137972080932002e-10 -0.022199999809267803585" rpy="-3.1415926535897922278 -4.1991858064654678597e-16 1.0471975511965982975" />
            <geometry>
                <mesh filename="package://onshape_description/omnibot/omni_003_(solid)001.stl"/>
            </geometry>
            <material name="omni_003_(solid)001_material">
                <color rgba="0.98039215686274505668 0.79607843137254896693 0.26274509803921569651 1.0"/>
            </material>
        </visual>
        <collision>
            <origin xyz="-1.9642151672522034644e-09 -1.789137972080932002e-10 -0.022199999809267803585" rpy="-3.1415926535897922278 -4.1991858064654678597e-16 1.0471975511965982975" />
            <geometry>
                <mesh filename="package://onshape_description/omnibot/omni_003_(solid)001.stl"/>
            </geometry>
        </collision>
        <visual>
            <origin xyz="0.015937773618267959963 0.0042705139175611191854 -0.012000000000002994383" rpy="-3.141592653589793116 1.6961942059400686984e-28 -7.1783816937733905183e-32" />
            <geometry>
                <mesh filename="package://onshape_description/omnibot/omni_spacer001_(solid)001.stl"/>
            </geometry>
            <material name="omni_spacer001_(solid)001_material">
                <color rgba="1 0.7568627450980391913 0.054901960784313724728 1.0"/>
            </material>
        </visual>
        <collision>
            <origin xyz="0.015937773618267959963 0.0042705139175611191854 -0.012000000000002994383" rpy="-3.141592653589793116 1.6961942059400686984e-28 -7.1783816937733905183e-32" />
            <geometry>
                <mesh filename="package://onshape_description/omnibot/omni_spacer001_(solid)001.stl"/>
            </geometry>
        </collision>
        <visual>
            <origin xyz="2.001760042447120469e-11 -1.9338660787775127183e-11 -0.012000000000003160916" rpy="1.0349716831773286698e-16 1.6961942059400686984e-28 -7.1783816937733905183e-32" />
            <geometry>
                <mesh filename="package://onshape_description/omnibot/omni_1_4mm_hole001_(solid).stl"/>
            </geometry>
            <material name="omni_1_4mm_hole001_(solid)_material">
                <color rgba="1 0.7568627450980391913 0.054901960784313724728 1.0"/>
            </material>
        </visual>
        <collision>
            <origin xyz="2.001760042447120469e-11 -1.9338660787775127183e-11 -0.012000000000003160916" rpy="1.0349716831773286698e-16 1.6961942059400686984e-28 -7.1783816937733905183e-32" />
            <geometry>
                <mesh filename="package://onshape_description/omnibot/omni_1_4mm_hole001_(solid).stl"/>
            </geometry>
        </collision>
        <visual>
            <origin xyz="-0.028790909644556446356 0.013178153068647311535 -0.010000000622265844963" rpy="-3.1415926535897922278 8.4064803423019641791e-16 -0.79586931499755375619" />
            <geometry>
                <mesh filename="package://onshape_description/omnibot/axys_rod.stl"/>
            </geometry>
            <material name="axys_rod_material">
                <color rgba="0.61568627450980395466 0.81176470588235294379 0.92941176470588238168 1.0"/>
            </material>
        </visual>
        <collision>
            <origin xyz="-0.028790909644556446356 0.013178153068647311535 -0.010000000622265844963" rpy="-3.1415926535897922278 8.4064803423019641791e-16 -0.79586931499755375619" />
            <geometry>
                <mesh filename="package://onshape_description/omnibot/axys_rod.stl"/>
            </geometry>
        </collision>
        <visual>
            <origin xyz="0.025808116021085243663 0.018344566682607685304 -0.010000000481623388948" rpy="1.2442177729352797785e-15 -6.019224116703367302e-16 0.25132812119095593317" />
            <geometry>
                <mesh filename="package://onshape_description/omnibot/axys_rod.stl"/>
            </geometry>
            <material name="axys_rod_material">
                <color rgba="0.61568627450980395466 0.81176470588235294379 0.92941176470588238168 1.0"/>
            </material>
        </visual>
        <collision>
            <origin xyz="0.025808116021085243663 0.018344566682607685304 -0.010000000481623388948" rpy="1.2442177729352797785e-15 -6.019224116703367302e-16 0.25132812119095593317" />
            <geometry>
                <mesh filename="package://onshape_description/omnibot/axys_rod.stl"/>
            </geometry>
        </collision>
        <visual>
            <origin xyz="-0.025693825391882973985 0.018315274927571054131 -0.024199999573447900092" rpy="6.8082193890773129154e-16 3.7265423145380525027e-16 -0.25132764401668122867" />
            <geometry>
                <mesh filename="package://onshape_description/omnibot/axys_rod.stl"/>
            </geometry>
            <material name="axys_rod_material">
                <color rgba="0.61568627450980395466 0.81176470588235294379 0.92941176470588238168 1.0"/>
            </material>
        </visual>
        <collision>
            <origin xyz="-0.025693825391882973985 0.018315274927571054131 -0.024199999573447900092" rpy="6.8082193890773129154e-16 3.7265423145380525027e-16 -0.25132764401668122867" />
            <geometry>
                <mesh filename="package://onshape_description/omnibot/axys_rod.stl"/>
            </geometry>
        </collision>
        <visual>
            <origin xyz="-0.0159377733641853786 -0.0042705132347587212299 -0.012000000000003271938" rpy="-3.141592653589793116 1.6961942059400686984e-28 -7.1783816937733905183e-32" />
            <geometry>
                <mesh filename="package://onshape_description/omnibot/omni_spacer001_(solid)001.stl"/>
            </geometry>
            <material name="omni_spacer001_(solid)001_material">
                <color rgba="1 0.7568627450980391913 0.054901960784313724728 1.0"/>
            </material>
        </visual>
        <collision>
            <origin xyz="-0.0159377733641853786 -0.0042705132347587212299 -0.012000000000003271938" rpy="-3.141592653589793116 1.6961942059400686984e-28 -7.1783816937733905183e-32" />
            <geometry>
                <mesh filename="package://onshape_description/omnibot/omni_spacer001_(solid)001.stl"/>
            </geometry>
        </collision>
        <visual>
            <origin xyz="0.028790823204502428989 -0.013178235601432128007 -0.010000000285351182128" rpy="1.0787395710862146583e-15 8.4064803423019641791e-16 -0.79586931499755375619" />
            <geometry>
                <mesh filename="package://onshape_description/omnibot/axys_rod.stl"/>
            </geometry>
            <material name="axys_rod_material">
                <color rgba="0.61568627450980395466 0.81176470588235294379 0.92941176470588238168 1.0"/>
            </material>
        </visual>
        <collision>
            <origin xyz="0.028790823204502428989 -0.013178235601432128007 -0.010000000285351182128" rpy="1.0787395710862146583e-15 8.4064803423019641791e-16 -0.79586931499755375619" />
            <geometry>
                <mesh filename="package://onshape_description/omnibot/axys_rod.stl"/>
            </geometry>
        </collision>
        <visual>
            <origin xyz="0.0030145071180058147925 0.031409130275868862858 -0.024199999101464586548" rpy="3.1415926535897922278 -1.0141384732893419395e-15 1.8430678811938714379" />
            <geometry>
                <mesh filename="package://onshape_description/omnibot/axys_rod.stl"/>
            </geometry>
            <material name="axys_rod_material">
                <color rgba="0.61568627450980395466 0.81176470588235294379 0.92941176470588238168 1.0"/>
            </material>
        </visual>
        <collision>
            <origin xyz="0.0030145071180058147925 0.031409130275868862858 -0.024199999101464586548" rpy="3.1415926535897922278 -1.0141384732893419395e-15 1.8430678811938714379" />
            <geometry>
                <mesh filename="package://onshape_description/omnibot/axys_rod.stl"/>
            </geometry>
        </collision>
        <visual>
            <origin xyz="-0.028708344080531231213 -0.01309388251264235678 -0.024199998418286364221" rpy="8.862661820863344558e-16 -4.6161115813843687421e-16 0.79586976703605827321" />
            <geometry>
                <mesh filename="package://onshape_description/omnibot/axys_rod.stl"/>
            </geometry>
            <material name="axys_rod_material">
                <color rgba="0.61568627450980395466 0.81176470588235294379 0.92941176470588238168 1.0"/>
            </material>
        </visual>
        <collision>
            <origin xyz="-0.028708344080531231213 -0.01309388251264235678 -0.024199998418286364221" rpy="8.862661820863344558e-16 -4.6161115813843687421e-16 0.79586976703605827321" />
            <geometry>
                <mesh filename="package://onshape_description/omnibot/axys_rod.stl"/>
            </geometry>
        </collision>
        <inertial>
            <origin xyz="-9.4588917160507933853e-06 -8.841514149512419722e-06 -0.015131125342708438494" rpy="0 0 0"/>
            <mass value="0.019223052335254627032" />
            <inertia ixx="5.3992629534633091221e-06" ixy="-7.3246329002137879938e-08"  ixz="-1.2642889979753332546e-09" iyy="5.6557979176500131722e-06" iyz="1.9098649289553053171e-09" izz="8.6846392930505551149e-06" />
        </inertial>
    </link>

    <link name="omni_roller001_(solid)001_25">
        <visual>
            <origin xyz="1.3877787807814456755e-17 -6.9388939039072283776e-18 -1.7347234759768070944e-18" rpy="3.9524097048835146726e-17 -2.9256415002827312718e-17 1.5713643407497663794e-17" />
            <geometry>
                <mesh filename="package://onshape_description/omnibot/omni_roller001_(solid)001.stl"/>
            </geometry>
            <material name="omni_roller001_(solid)001_material">
                <color rgba="0.098039215686274508443 0.098039215686274508443 0.098039215686274508443 1.0"/>
            </material>
        </visual>
        <collision>
            <origin xyz="1.3877787807814456755e-17 -6.9388939039072283776e-18 -1.7347234759768070944e-18" rpy="3.9524097048835146726e-17 -2.9256415002827312718e-17 1.5713643407497663794e-17" />
            <geometry>
                <mesh filename="package://onshape_description/omnibot/omni_roller001_(solid)001.stl"/>
            </geometry>
        </collision>
        <inertial>
            <origin xyz="4.0756135809000825733e-11 8.4957096292500590576e-11 2.4283847501194219734e-11" rpy="0 0 0"/>
            <mass value="0.0037899803393768713086" />
            <inertia ixx="1.8303635244743846252e-07" ixy="4.2716080873046541317e-16"  ixz="-1.7514569760388535079e-15" iyy="1.8303636075213781554e-07" iyz="-3.3429142995170780262e-15" izz="9.8097062080638894596e-08" />
        </inertial>
    </link>

    <joint name="roller3_1" type="revolute">
        <origin xyz="-0.020681651273558358806 0.021119338664790890392 -0.010000000622265831085" rpy="0.77492701179734346795 -1.5707963267948945596 0" />
        <parent link="wheel_copy_1_3" />
        <child link="omni_roller001_(solid)001_25" />
        <axis xyz="0 0 1"/>
        <limit effort="1" velocity="20" lower="-6.283185307179586232" upper="6.283185307179586232"/>
        <joint_properties friction="0.0"/>
    </joint>

    <link name="omni_roller001_(solid)001_26">
        <visual>
            <origin xyz="0 -1.3877787807814456755e-17 6.0715321659188248304e-18" rpy="-1.8638164015563186226e-17 2.5778202532746029112e-17 1.9180863263043151757e-17" />
            <geometry>
                <mesh filename="package://onshape_description/omnibot/omni_roller001_(solid)001.stl"/>
            </geometry>
            <material name="omni_roller001_(solid)001_material">
                <color rgba="0.098039215686274508443 0.098039215686274508443 0.098039215686274508443 1.0"/>
            </material>
        </visual>
        <collision>
            <origin xyz="0 -1.3877787807814456755e-17 6.0715321659188248304e-18" rpy="-1.8638164015563186226e-17 2.5778202532746029112e-17 1.9180863263043151757e-17" />
            <geometry>
                <mesh filename="package://onshape_description/omnibot/omni_roller001_(solid)001.stl"/>
            </geometry>
        </collision>
        <inertial>
            <origin xyz="4.0756121931213017919e-11 8.4957089353606686669e-11 2.4283855307449868092e-11" rpy="0 0 0"/>
            <mass value="0.0037899803393768713086" />
            <inertia ixx="1.8303635244743846252e-07" ixy="4.2716081270324934637e-16"  ixz="-1.7514569889806870045e-15" iyy="1.8303636075213781554e-07" iyz="-3.3429143090876513355e-15" izz="9.8097062080638974005e-08" />
        </inertial>
    </link>

    <joint name="roller3_2" type="revolute">
        <origin xyz="-0.028516433936169482966 -0.007321797366177360683 -0.010000001453652859751" rpy="1.5707963267948981123 1.2044689453373070809e-15 0.25132812119095510051" />
        <parent link="wheel_copy_1_3" />
        <child link="omni_roller001_(solid)001_26" />
        <axis xyz="0 0 1"/>
        <limit effort="1" velocity="20" lower="-6.283185307179586232" upper="6.283185307179586232"/>
        <joint_properties friction="0.0"/>
    </joint>

    <link name="omni_roller001_(solid)001_27">
        <visual>
            <origin xyz="0 0 -1.7347234759768070944e-18" rpy="1.6177293745983359634e-17 8.1259459794709381353e-19 -1.7706285465699242833e-17" />
            <geometry>
                <mesh filename="package://onshape_description/omnibot/omni_roller001_(solid)001.stl"/>
            </geometry>
            <material name="omni_roller001_(solid)001_material">
                <color rgba="0.098039215686274508443 0.098039215686274508443 0.098039215686274508443 1.0"/>
            </material>
        </visual>
        <collision>
            <origin xyz="0 0 -1.7347234759768070944e-18" rpy="1.6177293745983359634e-17 8.1259459794709381353e-19 -1.7706285465699242833e-17" />
            <geometry>
                <mesh filename="package://onshape_description/omnibot/omni_roller001_(solid)001.stl"/>
            </geometry>
        </collision>
        <inertial>
            <origin xyz="4.0756121931213030843e-11 8.4957103231394481559e-11 2.4283847501194219734e-11" rpy="0 0 0"/>
            <mass value="0.0037899803393768713086" />
            <inertia ixx="1.8303635244743851546e-07" ixy="4.2716083431823048357e-16"  ixz="-1.7514569819797425026e-15" iyy="1.8303636075213770966e-07" iyz="-3.3429143011855882605e-15" izz="9.8097062080638921065e-08" />
        </inertial>
    </link>

    <joint name="roller3_3" type="revolute">
        <origin xyz="-0.0082858436691589671536 -0.028375035936988202145 -0.010000003715208080624" rpy="-0.27227129214008005675 -1.5707963267948945596 0" />
        <parent link="wheel_copy_1_3" />
        <child link="omni_roller001_(solid)001_27" />
        <axis xyz="0 0 1"/>
        <limit effort="1" velocity="20" lower="-6.283185307179586232" upper="6.283185307179586232"/>
        <joint_properties friction="0.0"/>
    </joint>

    <link name="omni_roller001_(solid)001_28">
        <visual>
            <origin xyz="0 3.4694469519536141888e-18 0" rpy="1.6177293745983359634e-17 8.1259459794709381353e-19 -1.7706285465699242833e-17" />
            <geometry>
                <mesh filename="package://onshape_description/omnibot/omni_roller001_(solid)001.stl"/>
            </geometry>
            <material name="omni_roller001_(solid)001_material">
                <color rgba="0.098039215686274508443 0.098039215686274508443 0.098039215686274508443 1.0"/>
            </material>
        </visual>
        <collision>
            <origin xyz="0 3.4694469519536141888e-18 0" rpy="1.6177293745983359634e-17 8.1259459794709381353e-19 -1.7706285465699242833e-17" />
            <geometry>
                <mesh filename="package://onshape_description/omnibot/omni_roller001_(solid)001.stl"/>
            </geometry>
        </collision>
        <inertial>
            <origin xyz="4.0756121931213030843e-11 8.4957106700841433512e-11 2.4283849235917695711e-11" rpy="0 0 0"/>
            <mass value="0.0037899803393768713086" />
            <inertia ixx="1.8303635244743851546e-07" ixy="4.2716083431823048357e-16"  ixz="-1.7514569819797425026e-15" iyy="1.8303636075213770966e-07" iyz="-3.3429143011855882605e-15" izz="9.8097062080638921065e-08" />
        </inertial>
    </link>

    <joint name="roller3_4" type="revolute">
        <origin xyz="0.0079490519369571285835 0.028470515462351481811 -0.0099999970627584200411" rpy="-0.27227129214008005675 -1.5707963267948945596 0" />
        <parent link="wheel_copy_1_3" />
        <child link="omni_roller001_(solid)001_28" />
        <axis xyz="0 0 1"/>
        <limit effort="1" velocity="20" lower="-6.283185307179586232" upper="6.283185307179586232"/>
        <joint_properties friction="0.0"/>
    </joint>

    <link name="omni_roller001_(solid)001_29">
        <visual>
            <origin xyz="0 0 0" rpy="2.3358867537099875169e-17 -1.5551428361990190825e-17 4.9037422573542771729e-17" />
            <geometry>
                <mesh filename="package://onshape_description/omnibot/omni_roller001_(solid)001.stl"/>
            </geometry>
            <material name="omni_roller001_(solid)001_material">
                <color rgba="0.098039215686274508443 0.098039215686274508443 0.098039215686274508443 1.0"/>
            </material>
        </visual>
        <collision>
            <origin xyz="0 0 0" rpy="2.3358867537099875169e-17 -1.5551428361990190825e-17 4.9037422573542771729e-17" />
            <geometry>
                <mesh filename="package://onshape_description/omnibot/omni_roller001_(solid)001.stl"/>
            </geometry>
        </collision>
        <inertial>
            <origin xyz="4.0756121931213017919e-11 8.4957103231394494483e-11 2.4283849235917698942e-11" rpy="0 0 0"/>
            <mass value="0.0037899803393768713086" />
            <inertia ixx="1.8303635244743851546e-07" ixy="4.2716081026895648054e-16"  ixz="-1.7514569794144409917e-15" iyy="1.8303636075213781554e-07" iyz="-3.3429142959281644098e-15" izz="9.8097062080638921065e-08" />
        </inertial>
    </link>

    <joint name="roller3_5" type="revolute">
        <origin xyz="0.020599080645981766857 0.021035055769849105023 -0.024199995144404295999" rpy="0.77492655975883673047 1.5707963267948941155 0" />
        <parent link="wheel_copy_1_3" />
        <child link="omni_roller001_(solid)001_29" />
        <axis xyz="0 0 1"/>
        <limit effort="1" velocity="20" lower="-6.283185307179586232" upper="6.283185307179586232"/>
        <joint_properties friction="0.0"/>
    </joint>

    <link name="omni_roller001_(solid)001_30">
        <visual>
            <origin xyz="-1.3877787807814456755e-17 -6.9388939039072283776e-18 -1.7347234759768070944e-18" rpy="-3.9524097048835146726e-17 -2.9256415002827312718e-17 -1.5713643407497663794e-17" />
            <geometry>
                <mesh filename="package://onshape_description/omnibot/omni_roller001_(solid)001.stl"/>
            </geometry>
            <material name="omni_roller001_(solid)001_material">
                <color rgba="0.098039215686274508443 0.098039215686274508443 0.098039215686274508443 1.0"/>
            </material>
        </visual>
        <collision>
            <origin xyz="-1.3877787807814456755e-17 -6.9388939039072283776e-18 -1.7347234759768070944e-18" rpy="-3.9524097048835146726e-17 -2.9256415002827312718e-17 -1.5713643407497663794e-17" />
            <geometry>
                <mesh filename="package://onshape_description/omnibot/omni_roller001_(solid)001.stl"/>
            </geometry>
        </collision>
        <inertial>
            <origin xyz="4.0756108053425203642e-11 8.4957096292500590576e-11 2.4283847501194213272e-11" rpy="0 0 0"/>
            <mass value="0.0037899803393768713086" />
            <inertia ixx="1.8303635244743846252e-07" ixy="4.2716080820149453596e-16"  ixz="-1.7514569760388535079e-15" iyy="1.8303636075213781554e-07" iyz="-3.3429143109060443529e-15" izz="9.8097062080638894596e-08" />
        </inertial>
    </link>

    <joint name="roller3_6" type="revolute">
        <origin xyz="0.020681564833504355316 -0.021119421197575691251 -0.010000000285351182128" rpy="-0.77492701179734346795 1.5707963267948945596 0" />
        <parent link="wheel_copy_1_3" />
        <child link="omni_roller001_(solid)001_30" />
        <axis xyz="0 0 1"/>
        <limit effort="1" velocity="20" lower="-6.283185307179586232" upper="6.283185307179586232"/>
        <joint_properties friction="0.0"/>
    </joint>

    <link name="omni_roller001_(solid)001_31">
        <visual>
            <origin xyz="0 6.9388939039072283776e-18 1.7347234759768070944e-18" rpy="-3.4997606160586025818e-17 3.2590559552278320895e-17 -4.3767917163850324033e-18" />
            <geometry>
                <mesh filename="package://onshape_description/omnibot/omni_roller001_(solid)001.stl"/>
            </geometry>
            <material name="omni_roller001_(solid)001_material">
                <color rgba="0.098039215686274508443 0.098039215686274508443 0.098039215686274508443 1.0"/>
            </material>
        </visual>
        <collision>
            <origin xyz="0 6.9388939039072283776e-18 1.7347234759768070944e-18" rpy="-3.4997606160586025818e-17 3.2590559552278320895e-17 -4.3767917163850324033e-18" />
            <geometry>
                <mesh filename="package://onshape_description/omnibot/omni_roller001_(solid)001.stl"/>
            </geometry>
        </collision>
        <inertial>
            <origin xyz="4.0756121931213011456e-11 8.4957110170288411315e-11 2.4283850970641165226e-11" rpy="0 0 0"/>
            <mass value="0.0037899803393768713086" />
            <inertia ixx="1.8303635244743851546e-07" ixy="4.2716078671903419152e-16"  ixz="-1.7514569884898445358e-15" iyy="1.8303636075213792142e-07" iyz="-3.3429143130414900345e-15" izz="9.8097062080638894596e-08" />
        </inertial>
    </link>

    <joint name="roller3_7" type="revolute">
        <origin xyz="0.0079173979793228359964 -0.028356884977337799836 -0.024199999508976402507" rpy="0.27227155439897576805 -1.5707963267948954478 0" />
        <parent link="wheel_copy_1_3" />
        <child link="omni_roller001_(solid)001_31" />
        <axis xyz="0 0 1"/>
        <limit effort="1" velocity="20" lower="-6.283185307179586232" upper="6.283185307179586232"/>
        <joint_properties friction="0.0"/>
    </joint>

    <link name="omni_roller001_(solid)001_32">
        <visual>
            <origin xyz="1.7347234759768070944e-18 -4.1633363423443370266e-17 -1.7347234759768070944e-18" rpy="-1.7050991857094356153e-17 1.4919190278052208556e-17 -2.4033294495556374466e-17" />
            <geometry>
                <mesh filename="package://onshape_description/omnibot/omni_roller001_(solid)001.stl"/>
            </geometry>
            <material name="omni_roller001_(solid)001_material">
                <color rgba="0.098039215686274508443 0.098039215686274508443 0.098039215686274508443 1.0"/>
            </material>
        </visual>
        <collision>
            <origin xyz="1.7347234759768070944e-18 -4.1633363423443370266e-17 -1.7347234759768070944e-18" rpy="-1.7050991857094356153e-17 1.4919190278052208556e-17 -2.4033294495556374466e-17" />
            <geometry>
                <mesh filename="package://onshape_description/omnibot/omni_roller001_(solid)001.stl"/>
            </geometry>
        </collision>
        <inertial>
            <origin xyz="4.0756123665936500358e-11 8.495706159803107104e-11 2.4283847501194219734e-11" rpy="0 0 0"/>
            <mass value="0.0037899803393768713086" />
            <inertia ixx="1.8303635244743851546e-07" ixy="4.2716080529146504965e-16"  ixz="-1.751456985598734202e-15" iyy="1.8303636075213781554e-07" iyz="-3.3429143030849543e-15" izz="9.8097062080638921065e-08" />
        </inertial>
    </link>

    <joint name="roller3_8" type="revolute">
        <origin xyz="0.028516471920454505851 -0.007321785868249539031 -0.024199999328581897617" rpy="-1.5707963267948958919 1.1799275748715837675e-15 -0.2513276440166843928" />
        <parent link="wheel_copy_1_3" />
        <child link="omni_roller001_(solid)001_32" />
        <axis xyz="0 0 1"/>
        <limit effort="1" velocity="20" lower="-6.283185307179586232" upper="6.283185307179586232"/>
        <joint_properties friction="0.0"/>
    </joint>

    <link name="omni_roller001_(solid)001_33">
        <visual>
            <origin xyz="0 0 1.7347234759768070944e-18" rpy="-4.9764858414745813208e-17 2.2229630662923429358e-18 1.5395726919155950132e-17" />
            <geometry>
                <mesh filename="package://onshape_description/omnibot/omni_roller001_(solid)001.stl"/>
            </geometry>
            <material name="omni_roller001_(solid)001_material">
                <color rgba="0.098039215686274508443 0.098039215686274508443 0.098039215686274508443 1.0"/>
            </material>
        </visual>
        <collision>
            <origin xyz="0 0 1.7347234759768070944e-18" rpy="-4.9764858414745813208e-17 2.2229630662923429358e-18 1.5395726919155950132e-17" />
            <geometry>
                <mesh filename="package://onshape_description/omnibot/omni_roller001_(solid)001.stl"/>
            </geometry>
        </collision>
        <inertial>
            <origin xyz="4.0756121931213024381e-11 8.4957103231394494483e-11 2.4283850970641165226e-11" rpy="0 0 0"/>
            <mass value="0.0037899803393768713086" />
            <inertia ixx="1.8303635244743851546e-07" ixy="4.2716081023780949099e-16"  ixz="-1.7514569828199925682e-15" iyy="1.8303636075213781554e-07" iyz="-3.3429143131302491136e-15" izz="9.8097062080638894596e-08" />
        </inertial>
    </link>

    <joint name="roller3_9" type="revolute">
        <origin xyz="-0.0079173874319014066886 0.028356888222933220728 -0.024199999101464586548" rpy="-0.2722715543989739917 1.5707963267948945596 0" />
        <parent link="wheel_copy_1_3" />
        <child link="omni_roller001_(solid)001_33" />
        <axis xyz="0 0 1"/>
        <limit effort="1" velocity="20" lower="-6.283185307179586232" upper="6.283185307179586232"/>
        <joint_properties friction="0.0"/>
    </joint>

    <link name="omni_roller001_(solid)001_34">
        <visual>
            <origin xyz="0 1.3877787807814456755e-17 4.336808689942017736e-18" rpy="-4.3465684947966592321e-18 -3.2534114038821598698e-18 2.328434822853405491e-17" />
            <geometry>
                <mesh filename="package://onshape_description/omnibot/omni_roller001_(solid)001.stl"/>
            </geometry>
            <material name="omni_roller001_(solid)001_material">
                <color rgba="0.098039215686274508443 0.098039215686274508443 0.098039215686274508443 1.0"/>
            </material>
        </visual>
        <collision>
            <origin xyz="0 1.3877787807814456755e-17 4.336808689942017736e-18" rpy="-4.3465684947966592321e-18 -3.2534114038821598698e-18 2.328434822853405491e-17" />
            <geometry>
                <mesh filename="package://onshape_description/omnibot/omni_roller001_(solid)001.stl"/>
            </geometry>
        </collision>
        <inertial>
            <origin xyz="4.0756121931213017919e-11 8.4957117109182302298e-11 2.4283853572726385653e-11" rpy="0 0 0"/>
            <mass value="0.0037899803393768713086" />
            <inertia ixx="1.8303635244743846252e-07" ixy="4.2716081202509796945e-16"  ixz="-1.7514569833272774619e-15" iyy="1.8303636075213781554e-07" iyz="-3.3429143119979800959e-15" izz="9.8097062080638921065e-08" />
        </inertial>
    </link>

    <joint name="roller3_10" type="revolute">
        <origin xyz="-0.028516458158703440751 0.0073218567028480565154 -0.024199999573447900092" rpy="-1.5707963267948958919 1.2165947825970393978e-15 -0.25132764401668150622" />
        <parent link="wheel_copy_1_3" />
        <child link="omni_roller001_(solid)001_34" />
        <axis xyz="0 0 1"/>
        <limit effort="1" velocity="20" lower="-6.283185307179586232" upper="6.283185307179586232"/>
        <joint_properties friction="0.0"/>
    </joint>

    <link name="omni_roller001_(solid)001_35">
        <visual>
            <origin xyz="0 0 0" rpy="2.3358867537099875169e-17 -1.5551428361990190825e-17 4.9037422573542771729e-17" />
            <geometry>
                <mesh filename="package://onshape_description/omnibot/omni_roller001_(solid)001.stl"/>
            </geometry>
            <material name="omni_roller001_(solid)001_material">
                <color rgba="0.098039215686274508443 0.098039215686274508443 0.098039215686274508443 1.0"/>
            </material>
        </visual>
        <collision>
            <origin xyz="0 0 0" rpy="2.3358867537099875169e-17 -1.5551428361990190825e-17 4.9037422573542771729e-17" />
            <geometry>
                <mesh filename="package://onshape_description/omnibot/omni_roller001_(solid)001.stl"/>
            </geometry>
        </collision>
        <inertial>
            <origin xyz="4.0756121931213017919e-11 8.4957103231394494483e-11 2.4283849235917698942e-11" rpy="0 0 0"/>
            <mass value="0.0037899803393768713086" />
            <inertia ixx="1.8303635244743851546e-07" ixy="4.2716081026895648054e-16"  ixz="-1.7514569794144409917e-15" iyy="1.8303636075213781554e-07" iyz="-3.3429142959281644098e-15" izz="9.8097062080638921065e-08" />
        </inertial>
    </link>

    <joint name="roller3_11" type="revolute">
        <origin xyz="-0.020599082119812310576 -0.021035064443088068858 -0.024199998418286378099" rpy="0.77492655975883673047 1.5707963267948941155 0" />
        <parent link="wheel_copy_1_3" />
        <child link="omni_roller001_(solid)001_35" />
        <axis xyz="0 0 1"/>
        <limit effort="1" velocity="20" lower="-6.283185307179586232" upper="6.283185307179586232"/>
        <joint_properties friction="0.0"/>
    </joint>

    <link name="omni_roller001_(solid)001_36">
        <visual>
            <origin xyz="-1.7347234759768070944e-18 0 4.336808689942017736e-19" rpy="-5.953673313700999917e-17 -6.19224000320700827e-18 -8.2265040387917925077e-18" />
            <geometry>
                <mesh filename="package://onshape_description/omnibot/omni_roller001_(solid)001.stl"/>
            </geometry>
            <material name="omni_roller001_(solid)001_material">
                <color rgba="0.098039215686274508443 0.098039215686274508443 0.098039215686274508443 1.0"/>
            </material>
        </visual>
        <collision>
            <origin xyz="-1.7347234759768070944e-18 0 4.336808689942017736e-19" rpy="-5.953673313700999917e-17 -6.19224000320700827e-18 -8.2265040387917925077e-18" />
            <geometry>
                <mesh filename="package://onshape_description/omnibot/omni_roller001_(solid)001.stl"/>
            </geometry>
        </collision>
        <inertial>
            <origin xyz="4.0756120196489548404e-11 8.4957103231394481559e-11 2.4283849669598555012e-11" rpy="0 0 0"/>
            <mass value="0.0037899803393768713086" />
            <inertia ixx="1.8303635244743851546e-07" ixy="4.2716080936662247005e-16"  ixz="-1.7514569779400986141e-15" iyy="1.830363607521377626e-07" iyz="-3.342914323306651032e-15" izz="9.8097062080638894596e-08" />
        </inertial>
    </link>

    <joint name="roller3_12" type="revolute">
        <origin xyz="0.028630754033681746207 0.0073511498047736977338 -0.01000000048162337507" rpy="1.5707963267948976682 3.3643162603739264695e-15 0.25132812119095487846" />
        <parent link="wheel_copy_1_3" />
        <child link="omni_roller001_(solid)001_36" />
        <axis xyz="0 0 1"/>
        <limit effort="1" velocity="20" lower="-6.283185307179586232" upper="6.283185307179586232"/>
        <joint_properties friction="0.0"/>
    </joint>

    <joint name="wheel3_speed" type="revolute">
        <origin xyz="1.3362987787498678669e-17 0.015229328657860292592 3.0000000000016124879e-05" rpy="-3.141592653589793116 3.4648414814824832666e-16 -1.570796326794896558" />
        <parent link="assembly_motor_3" />
        <child link="wheel_copy_1_3" />
        <axis xyz="0 0 1"/>
        <limit effort="1" velocity="20" lower="-6.283185307179586232" upper="6.283185307179586232"/>
        <joint_properties friction="0.0"/>
    </joint>

    <joint name="motor3" type="fixed">
        <origin xyz="-0.072435351823797927695 -0.043144348079105873661 1.2143064331837649661e-17" rpy="-1.570796326794896558 1.578226579417481623e-16 2.1079931297550063007" />
        <parent link="body" />
        <child link="assembly_motor_3" />
        <axis xyz="0 0 1"/>
        <limit effort="1" velocity="20" />
        <joint_properties friction="0.0"/>
    </joint>


</robot>
